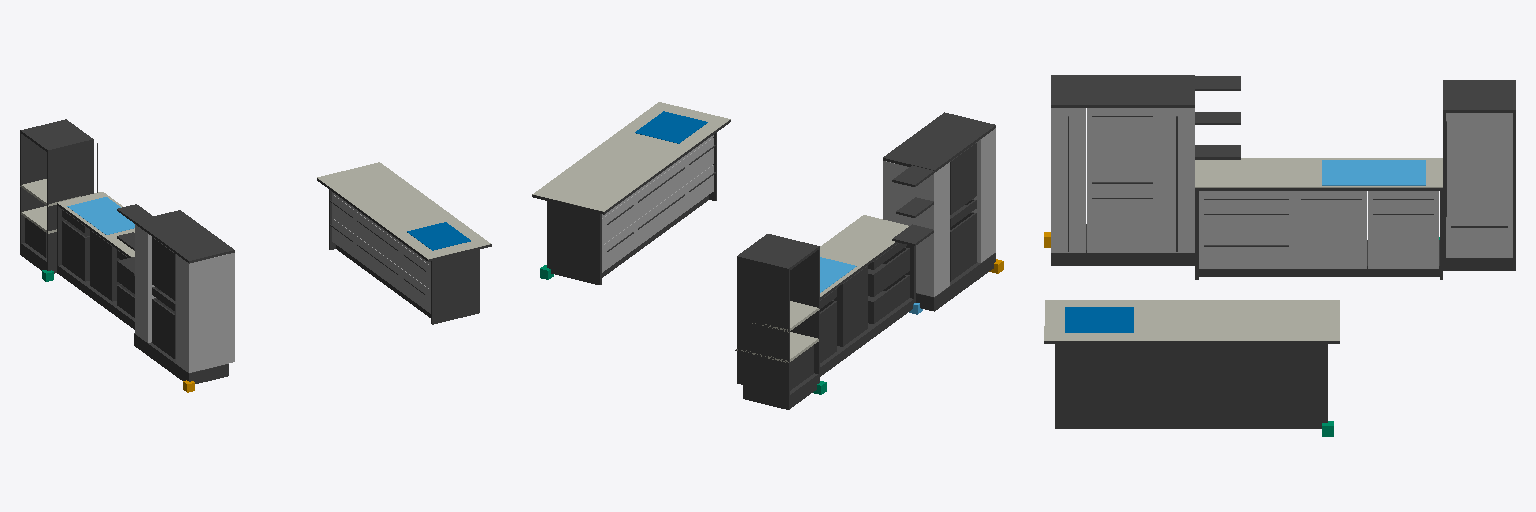
--- Render facts (derived) ---
3 views of the same robot in one strip: view 1: azimuth 30°, elevation 25°; view 2: azimuth 150°, elevation 25°; view 3: azimuth 270°, elevation 25° (orthographic).
Model ias_kitchen with 171 links and 170 joints (1 revolute, 21 prismatic, 148 fixed), rooted at kitchen_link, posed all joints at 0.
Visible links, largest first — view 1: drawer_oven_left_link, white_counter_top_island_link, counter_side_island_right_link, counter_side_fridge_left_link, counter_top_oven_link, drawer_oven_right_link, counter_side_fridge_right_link, counter_top_fridge_link, sink_link, drawer_sink_col2_back_link, skirting_oven_link, drawer_sink_col3_bottom_back_link (+12 smaller); view 2: white_counter_top_island_link, counter_side_fridge_right_link, drawer_oven_right_link, counter_side_island_left_link, counter_top_oven_link, white_counter_top_sink_link, drawer_oven_left_link, counter_side_fridge_left_link, counter_top_fridge_link, drawer_sink_col2_back_link, drawer_oven_oven_back_link, drawer_oven_bottom_back_link (+20 smaller); view 3: counter_side_island_back_link, white_counter_top_island_link, fridge_link, drawer_sink_col2_link, drawer_oven_right_link, drawer_oven_left_link, drawer_oven_oven_link, counter_top_oven_link, white_counter_top_sink_link, drawer_oven_bottom_link, drawer_sink_col3_bottom_link, drawer_sink_col1_center_link (+16 smaller).
Boxes of the visible links, x1=… form: drawer_oven_left_link: x1=176, y1=253, x2=234, y2=372; white_counter_top_island_link: x1=317, y1=162, x2=490, y2=259; counter_side_island_right_link: x1=431, y1=250, x2=479, y2=324; counter_side_fridge_left_link: x1=47, y1=142, x2=93, y2=262; counter_top_oven_link: x1=134, y1=210, x2=234, y2=263; drawer_oven_right_link: x1=135, y1=224, x2=155, y2=342; counter_side_fridge_right_link: x1=20, y1=133, x2=46, y2=243; counter_top_fridge_link: x1=20, y1=119, x2=93, y2=152; sink_link: x1=67, y1=197, x2=134, y2=234; drawer_sink_col2_back_link: x1=90, y1=230, x2=113, y2=301; skirting_oven_link: x1=134, y1=333, x2=228, y2=383; drawer_sink_col3_bottom_back_link: x1=62, y1=221, x2=86, y2=281; white_counter_top_island_link: x1=532, y1=102, x2=730, y2=211; counter_side_fridge_right_link: x1=737, y1=259, x2=789, y2=395; drawer_oven_right_link: x1=883, y1=161, x2=949, y2=296; counter_side_island_left_link: x1=547, y1=201, x2=601, y2=284; counter_top_oven_link: x1=883, y1=112, x2=995, y2=172; white_counter_top_sink_link: x1=820, y1=215, x2=908, y2=296; drawer_oven_left_link: x1=972, y1=128, x2=995, y2=262; counter_side_fridge_left_link: x1=790, y1=249, x2=819, y2=373; counter_top_fridge_link: x1=737, y1=234, x2=819, y2=271; drawer_sink_col2_back_link: x1=842, y1=266, x2=867, y2=346; drawer_oven_oven_back_link: x1=950, y1=143, x2=976, y2=214; drawer_oven_bottom_back_link: x1=950, y1=213, x2=976, y2=281; counter_side_island_back_link: x1=1059, y1=344, x2=1323, y2=428; white_counter_top_island_link: x1=1044, y1=300, x2=1339, y2=340; fridge_link: x1=1446, y1=113, x2=1512, y2=218; drawer_sink_col2_link: x1=1295, y1=191, x2=1366, y2=268; drawer_oven_right_link: x1=1159, y1=108, x2=1194, y2=252; drawer_oven_left_link: x1=1051, y1=108, x2=1085, y2=252; drawer_oven_oven_link: x1=1087, y1=108, x2=1158, y2=175; counter_top_oven_link: x1=1051, y1=75, x2=1194, y2=107; white_counter_top_sink_link: x1=1195, y1=158, x2=1442, y2=187; drawer_oven_bottom_link: x1=1087, y1=190, x2=1158, y2=252; drawer_sink_col3_bottom_link: x1=1368, y1=206, x2=1438, y2=268; drawer_sink_col1_center_link: x1=1199, y1=206, x2=1294, y2=237.
Bounding box of the posed robot: 3.85 × 3.91 × 1.56 m (x, y, z).
Geometry: primitives only (box / cylinder / sphere), no mesh files.

robot.urdf — ias_kitchen:
<?xml version="1.0" ?>
<!-- =================================================================================== -->
<!-- |    This document was autogenerated by xacro from ias_kitchen.urdf.xml           | -->
<!-- |    EDITING THIS FILE BY HAND IS NOT RECOMMENDED                                 | -->
<!-- =================================================================================== -->
<robot name="ias_kitchen" xmlns:controller="http://playerstage.sourceforge.net/gazebo/xmlschema/#controller" xmlns:interface="http://playerstage.sourceforge.net/gazebo/xmlschema/#interface" xmlns:sensor="http://playerstage.sourceforge.net/gazebo/xmlschema/#sensor">
  <material name="KitchenWhite">
    <color rgba="0.75 0.75 0.7 1.0"/>
  </material>
  <material name="KitchenDarkGray">
    <color rgba="0.3 0.3 0.3 1.0"/>
  </material>
  <material name="KitchenLightGray">
    <color rgba="0.7 0.7 0.7 1.0"/>
  </material>
  <material name="KitchenWallWhite">
    <color rgba="1.0 1.0 1.0 1.0"/>
  </material>
  <material name="KitchenSink">
    <texture filename="package://iai_maps/Media/materials/textures/sink.png"/>
  </material>
  <material name="KitchenStove">
    <texture filename="package://iai_maps/Media/materials/textures/stove.png"/>
  </material>
  <!-- This is the top level joint /tf frame. 
       Something (like the provided launch file) should publish a transform to /map. -->
  <link name="kitchen_link">
    <inertial>
      <mass value="1"/>
      <inertia ixx="4e-07" ixy="0" ixz="0" iyy="4e-07" iyz="0" izz="4e-07"/>
    </inertial>
  </link>
  <!-- Quick macro for walls -->
  <!-- Walls behind kitchen counter -->
  <!--
  <wall parent="kitchen"
        name="wall_main"
        pos_x="-0.2" pos_y="-1.5" pos_z="0"
        size_x="0.2" size_y="6.0" size_z="2.75"
        rpy="0 0 0"
  />
  <wall parent="kitchen"
        name="wall_stickout"
        pos_x="0" pos_y="${1.2 + 0.38}" pos_z="0"
        size_x="0.20" size_y="1.67" size_z="2.75"
        rpy="0 0 0"
  />
    -->
  <!-- Shelves on top of kitchen counter -->
  <joint name="kitchen_shelf_bottom_joint" type="fixed">
    <origin rpy="0 0 0" xyz="0.125 1.39 0.8625"/>
    <parent link="kitchen_link"/>
    <child link="shelf_bottom_link"/>
  </joint>
  <link name="shelf_bottom_link">
    <inertial>
      <mass value="2.0"/>
      <inertia ixx="0.0241708333333" ixy="0" ixz="0" iyy="0.0344833333333" iyz="0" izz="0.0105208333333"/>
    </inertial>
    <visual>
      <origin rpy="0 0 0" xyz="0 0 0"/>
      <geometry>
        <box size="0.25 0.38 0.025"/>
      </geometry>
      <material name="KitchenDarkGray"/>
    </visual>
    <collision>
      <origin rpy="0 0 0" xyz="0 0 0"/>
      <geometry>
        <box size="0.25 0.38 0.025"/>
      </geometry>
    </collision>
  </link>
  <gazebo reference="shelf_bottom_link">
    <kp>100000</kp>
    <kd>1000000</kd>
    <mu1>50000</mu1>
    <mu2>50000</mu2>
    <material value="Ias/KitchenDarkGray"/>
  </gazebo>
  <joint name="kitchen_shelf_center_joint" type="fixed">
    <origin rpy="0 0 0" xyz="0.105 1.39 1.1625"/>
    <parent link="kitchen_link"/>
    <child link="shelf_center_link"/>
  </joint>
  <link name="shelf_center_link">
    <inertial>
      <mass value="2.0"/>
      <inertia ixx="0.0241708333333" ixy="0" ixz="0" iyy="0.0314166666667" iyz="0" izz="0.00745416666667"/>
    </inertial>
    <visual>
      <origin rpy="0 0 0" xyz="0 0 0"/>
      <geometry>
        <box size="0.21 0.38 0.025"/>
      </geometry>
      <material name="KitchenDarkGray"/>
    </visual>
    <collision>
      <origin rpy="0 0 0" xyz="0 0 0"/>
      <geometry>
        <box size="0.21 0.38 0.025"/>
      </geometry>
    </collision>
  </link>
  <gazebo reference="shelf_center_link">
    <kp>100000</kp>
    <kd>1000000</kd>
    <mu1>50000</mu1>
    <mu2>50000</mu2>
    <material value="Ias/KitchenDarkGray"/>
  </gazebo>
  <joint name="kitchen_shelf_top_joint" type="fixed">
    <origin rpy="0 0 0" xyz="0.125 1.39 1.4925"/>
    <parent link="kitchen_link"/>
    <child link="shelf_top_link"/>
  </joint>
  <link name="shelf_top_link">
    <inertial>
      <mass value="2.0"/>
      <inertia ixx="0.0241708333333" ixy="0" ixz="0" iyy="0.0344833333333" iyz="0" izz="0.0105208333333"/>
    </inertial>
    <visual>
      <origin rpy="0 0 0" xyz="0 0 0"/>
      <geometry>
        <box size="0.25 0.38 0.025"/>
      </geometry>
      <material name="KitchenDarkGray"/>
    </visual>
    <collision>
      <origin rpy="0 0 0" xyz="0 0 0"/>
      <geometry>
        <box size="0.25 0.38 0.025"/>
      </geometry>
    </collision>
  </link>
  <gazebo reference="shelf_top_link">
    <kp>100000</kp>
    <kd>1000000</kd>
    <mu1>50000</mu1>
    <mu2>50000</mu2>
    <material value="Ias/KitchenDarkGray"/>
  </gazebo>
  <!-- Finally, the 5 main blocks of the kitchen -->
  <joint name="island_block_stove_joint" type="fixed">
    <origin rpy="0 0 0" xyz="0 0 0"/>
    <parent link="island_block_link"/>
    <child link="stove_link"/>
  </joint>
  <link name="stove_link">
    <inertial>
      <mass value="1.0"/>
      <inertia ixx="0.0270770833333" ixy="0" ixz="0" iyy="0.0479083333333" iyz="0" izz="0.0208354166667"/>
    </inertial>
    <visual>
      <origin rpy="0 0 0" xyz=".30 1.895 .8525"/>
      <geometry>
        <box size=".50 .57 0.005"/>
      </geometry>
      <material name="KitchenStove"/>
    </visual>
    <collision>
      <origin rpy="0 0 0" xyz=".30 1.895 .8525"/>
      <geometry>
        <box size=".50 .57 0.005"/>
      </geometry>
    </collision>
  </link>
  <gazebo reference="stove_link">
    <material value="Ias/KitchenStove"/>
  </gazebo>
  <joint name="island_block_counter_side_island_left_joint" type="fixed">
    <origin rpy="0 0 0" xyz="0.3 0.015 0.41"/>
    <parent link="island_block_link"/>
    <child link="counter_side_island_left_link"/>
  </joint>
  <link name="counter_side_island_left_link">
    <inertial>
      <mass value="2.0"/>
      <inertia ixx="0.112216666667" ixy="0" ixz="0" iyy="0.06015" iyz="0" izz="0.172066666667"/>
    </inertial>
    <visual>
      <origin rpy="0 0 0" xyz="0 0 0"/>
      <geometry>
        <box size="0.6 0.03 0.82"/>
      </geometry>
      <material name="KitchenDarkGray"/>
    </visual>
    <collision>
      <origin rpy="0 0 0" xyz="0 0 0"/>
      <geometry>
        <box size="0.6 0.03 0.82"/>
      </geometry>
    </collision>
  </link>
  <gazebo reference="counter_side_island_left_link">
    <material value="Ias/KitchenDarkGray"/>
  </gazebo>
  <joint name="island_block_counter_side_island_right_joint" type="fixed">
    <origin rpy="0 0 0" xyz="0.3 2.245 0.41"/>
    <parent link="island_block_link"/>
    <child link="counter_side_island_right_link"/>
  </joint>
  <link name="counter_side_island_right_link">
    <inertial>
      <mass value="2.0"/>
      <inertia ixx="0.112216666667" ixy="0" ixz="0" iyy="0.06015" iyz="0" izz="0.172066666667"/>
    </inertial>
    <visual>
      <origin rpy="0 0 0" xyz="0 0 0"/>
      <geometry>
        <box size="0.6 0.03 0.82"/>
      </geometry>
      <material name="KitchenDarkGray"/>
    </visual>
    <collision>
      <origin rpy="0 0 0" xyz="0 0 0"/>
      <geometry>
        <box size="0.6 0.03 0.82"/>
      </geometry>
    </collision>
  </link>
  <gazebo reference="counter_side_island_right_link">
    <material value="Ias/KitchenDarkGray"/>
  </gazebo>
  <joint name="island_block_counter_side_island_back_joint" type="fixed">
    <origin rpy="0 0 0" xyz="0.01 1.13 0.41"/>
    <parent link="island_block_link"/>
    <child link="counter_side_island_back_link"/>
  </joint>
  <link name="counter_side_island_back_link">
    <inertial>
      <mass value="2.0"/>
      <inertia ixx="0.918733333333" ixy="0" ixz="0" iyy="0.806733333333" iyz="0" izz="0.112133333333"/>
    </inertial>
    <visual>
      <origin rpy="0 0 0" xyz="0 0 0"/>
      <geometry>
        <box size="0.02 2.2 0.82"/>
      </geometry>
      <material name="KitchenDarkGray"/>
    </visual>
    <collision>
      <origin rpy="0 0 0" xyz="0 0 0"/>
      <geometry>
        <box size="0.02 2.2 0.82"/>
      </geometry>
    </collision>
  </link>
  <gazebo reference="counter_side_island_back_link">
    <material value="Ias/KitchenDarkGray"/>
  </gazebo>
  <joint name="island_block_counter_top_island_joint" type="fixed">
    <origin rpy="0 0 0" xyz="0.3 1.125 0.835"/>
    <parent link="island_block_link"/>
    <child link="counter_top_island_link"/>
  </joint>
  <link name="counter_top_island_link">
    <inertial>
      <mass value="2.0"/>
      <inertia ixx="1.00056666667" ixy="0" ixz="0" iyy="1.10708333333" iyz="0" izz="0.106816666667"/>
    </inertial>
    <visual>
      <origin rpy="0 0 0" xyz="0 0 0"/>
      <geometry>
        <box size="0.8 2.45 0.03"/>
      </geometry>
      <material name="KitchenDarkGray"/>
    </visual>
    <collision>
      <origin rpy="0 0 0" xyz="0 0 0"/>
      <geometry>
        <box size="0.8 2.45 0.03"/>
      </geometry>
    </collision>
  </link>
  <gazebo reference="counter_top_island_link">
    <kp>100000</kp>
    <kd>1000000</kd>
    <mu1>50000</mu1>
    <mu2>50000</mu2>
    <material value="Ias/KitchenDarkGray"/>
  </gazebo>
  <joint name="island_block_white_counter_top_island_joint" type="fixed">
    <origin rpy="0 0 0" xyz="0.3 1.125 0.851"/>
    <parent link="island_block_link"/>
    <child link="white_counter_top_island_link"/>
  </joint>
  <link name="white_counter_top_island_link">
    <inertial>
      <mass value="2.0"/>
      <inertia ixx="1.00041733333" ixy="0" ixz="0" iyy="1.10708333333" iyz="0" izz="0.106667333333"/>
    </inertial>
    <visual>
      <origin rpy="0 0 0" xyz="0 0 0"/>
      <geometry>
        <box size="0.8 2.45 0.002"/>
      </geometry>
      <material name="KitchenWhite"/>
    </visual>
    <collision>
      <origin rpy="0 0 0" xyz="0 0 0"/>
      <geometry>
        <box size="0.8 2.45 0.002"/>
      </geometry>
    </collision>
  </link>
  <gazebo reference="white_counter_top_island_link">
    <kp>100000</kp>
    <kd>1000000</kd>
    <mu1>50000</mu1>
    <mu2>50000</mu2>
    <material value="Ias/KitchenWhite"/>
  </gazebo>
  <joint name="island_block_drawer_island_col1_bottom_fixed_joint" type="fixed">
    <origin rpy="0 0 0" xyz="0.57 0.33 0.245"/>
    <parent link="island_block_link"/>
    <child link="drawer_island_col1_bottom_fixed_link"/>
  </joint>
  <link name="drawer_island_col1_bottom_fixed_link">
    <inertial>
      <mass value="1"/>
      <inertia ixx="4e-07" ixy="0" ixz="0" iyy="4e-07" iyz="0" izz="4e-07"/>
    </inertial>
  </link>
  <joint name="island_block_drawer_island_col1_bottom_joint" type="prismatic">
    <origin rpy="0 0 0" xyz="0 0 0"/>
    <parent link="drawer_island_col1_bottom_fixed_link"/>
    <child link="drawer_island_col1_bottom_link"/>
    <axis xyz="0.999 0 0.044"/>
    <!-- the axis needs to be slightly tilted so that the drawers would stay closed in Gazebo-->
    <limit effort="300" lower="0" upper="0.48" velocity="10"/>
  </joint>
  <gazebo reference="island_block_drawer_island_col1_bottom_joint">
    <erp>0.8</erp>
    <cfm>0.0000001</cfm>
    <stopKp>1000000.0</stopKp>
    <stopKd>1.0</stopKd>
  </gazebo>
  <link name="drawer_island_col1_bottom_link">
    <inertial>
      <mass value="1.0"/>
      <inertia ixx="0.0370083333333" ixy="0" ixz="0" iyy="0.0300333333333" iyz="0" izz="0.00704166666667"/>
    </inertial>
    <visual>
      <origin rpy="0 0 0" xyz="0 0 0"/>
      <geometry>
        <box size="0.02 0.595 0.285"/>
      </geometry>
      <material name="KitchenLightGray"/>
    </visual>
    <collision>
      <origin rpy="0 0 0" xyz="0 0 0"/>
      <geometry>
        <box size="0.02 0.6 0.29"/>
      </geometry>
    </collision>
  </link>
  <gazebo reference="drawer_island_col1_bottom_link">
    <material value="Ias/KitchenLightGray"/>
  </gazebo>
  <joint name="drawer_island_col1_bottom_left_fixed_joint" type="fixed">
    <origin rpy="0 0 0" xyz="0 0 0"/>
    <parent link="drawer_island_col1_bottom_link"/>
    <child link="drawer_island_col1_bottom_left_link"/>
  </joint>
  <link name="drawer_island_col1_bottom_left_link">
    <inertial>
      <mass value="1.0"/>
      <inertia ixx="0.00483333333333" ixy="0" ixz="0" iyy="0.0243333333333" iyz="0" izz="0.0291"/>
    </inertial>
    <visual>
      <origin rpy="0 0 0" xyz="-0.27 -0.24 0"/>
      <geometry>
        <box size="0.54 0.02 0.24"/>
      </geometry>
      <material name="KitchenDarkGray"/>
    </visual>
    <collision>
      <origin rpy="0 0 0" xyz="-0.27 -0.24 0"/>
      <geometry>
        <box size="0.54 0.02 0.24"/>
      </geometry>
    </collision>
  </link>
  <gazebo reference="drawer_island_col1_bottom_left_link">
    <material value="Ias/KitchenLightGray"/>
  </gazebo>
  <joint name="drawer_island_col1_bottom_right_fixed_joint" type="fixed">
    <origin rpy="0 0 0" xyz="0 0 0"/>
    <parent link="drawer_island_col1_bottom_link"/>
    <child link="drawer_island_col1_bottom_right_link"/>
  </joint>
  <link name="drawer_island_col1_bottom_right_link">
    <inertial>
      <mass value="1.0"/>
      <inertia ixx="0.00483333333333" ixy="0" ixz="0" iyy="0.0243333333333" iyz="0" izz="0.0291"/>
    </inertial>
    <visual>
      <origin rpy="0 0 0" xyz="-0.27 0.24 0"/>
      <geometry>
        <box size="0.54 0.02 0.24"/>
      </geometry>
      <material name="KitchenDarkGray"/>
    </visual>
    <collision>
      <origin rpy="0 0 0" xyz="-0.27 0.24 0"/>
      <geometry>
        <box size="0.54 0.02 0.24"/>
      </geometry>
    </collision>
  </link>
  <gazebo reference="drawer_island_col1_bottom_right_link">
    <material value="Ias/KitchenLightGray"/>
  </gazebo>
  <joint name="drawer_island_col1_bottom_back_fixed_joint" type="fixed">
    <origin rpy="0 0 0" xyz="0 0 0"/>
    <parent link="drawer_island_col1_bottom_link"/>
    <child link="drawer_island_col1_bottom_back_link"/>
  </joint>
  <link name="drawer_island_col1_bottom_back_link">
    <inertial>
      <mass value="1.0"/>
      <inertia ixx="0.0256333333333" ixy="0" ixz="0" iyy="0.0208666666667" iyz="0" izz="0.00483333333333"/>
    </inertial>
    <visual>
      <origin rpy="0 0 0" xyz="-0.54 0 0"/>
      <geometry>
        <box size="0.02 0.5 0.24"/>
      </geometry>
      <material name="KitchenDarkGray"/>
    </visual>
    <collision>
      <origin rpy="0 0 0" xyz="-0.54 0 0"/>
      <geometry>
        <box size="0.02 0.5 0.24"/>
      </geometry>
    </collision>
  </link>
  <gazebo reference="drawer_island_col1_bottom_back_link">
    <material value="Ias/KitchenLightGray"/>
  </gazebo>
  <joint name="drawer_island_col1_bottom_bottom_fixed_joint" type="fixed">
    <origin rpy="0 0 0" xyz="0 0 0"/>
    <parent link="drawer_island_col1_bottom_link"/>
    <child link="drawer_island_col1_bottom_bottom_link"/>
  </joint>
  <link name="drawer_island_col1_bottom_bottom_link">
    <inertial>
      <mass value="1.0"/>
      <inertia ixx="0.0208666666667" ixy="0" ixz="0" iyy="0.0451333333333" iyz="0" izz="0.0243333333333"/>
    </inertial>
    <visual>
      <origin rpy="0 0 0" xyz="-0.27 0 -0.11"/>
      <geometry>
        <box size="0.54 0.5 0.02"/>
      </geometry>
      <material name="KitchenDarkGray"/>
    </visual>
    <collision>
      <origin rpy="0 0 0" xyz="-0.27 0 -0.11"/>
      <geometry>
        <box size="0.54 0.5 0.02"/>
      </geometry>
    </collision>
  </link>
  <gazebo reference="drawer_island_col1_bottom_bottom_link">
    <material value="Ias/KitchenLightGray"/>
  </gazebo>
  <joint name="drawer_island_col1_bottom_handle_drawer_island_col1_bottom_joint" type="fixed">
    <origin rpy="0 0 0" xyz="0.0625 0.0 0.0925"/>
    <parent link="drawer_island_col1_bottom_link"/>
    <child link="handle_drawer_island_col1_bottom_link"/>
  </joint>
  <link name="handle_drawer_island_col1_bottom_link">
    <inertial>
      <mass value="0.1"/>
      <inertia ixx="0.00212604166667" ixy="0" ixz="0" iyy="0.00212604166667" iyz="0" izz="1.66666666667e-06"/>
    </inertial>
    <visual>
      <origin rpy="0 0 0" xyz="0 0 0"/>
      <geometry>
        <box size="0.01 0.505 0.01"/>
      </geometry>
      <material name="KitchenDarkGray"/>
    </visual>
    <collision>
      <origin rpy="0 0 0" xyz="0 0 0"/>
      <geometry>
        <box size="0.015 0.51 0.015"/>
      </geometry>
    </collision>
  </link>
  <gazebo reference="handle_drawer_island_col1_bottom_link">
    <material value="Ias/KitchenDarkGray"/>
  </gazebo>
  <joint name="island_block_drawer_island_col1_center_fixed_joint" type="fixed">
    <origin rpy="0 0 0" xyz="0.57 0.33 0.535"/>
    <parent link="island_block_link"/>
    <child link="drawer_island_col1_center_fixed_link"/>
  </joint>
  <link name="drawer_island_col1_center_fixed_link">
    <inertial>
      <mass value="1"/>
      <inertia ixx="4e-07" ixy="0" ixz="0" iyy="4e-07" iyz="0" izz="4e-07"/>
    </inertial>
  </link>
  <joint name="island_block_drawer_island_col1_center_joint" type="prismatic">
    <origin rpy="0 0 0" xyz="0 0 0"/>
    <parent link="drawer_island_col1_center_fixed_link"/>
    <child link="drawer_island_col1_center_link"/>
    <axis xyz="0.999 0 0.044"/>
    <!-- the axis needs to be slightly tilted so that the drawers would stay closed in Gazebo-->
    <limit effort="300" lower="0" upper="0.48" velocity="10"/>
  </joint>
  <gazebo reference="island_block_drawer_island_col1_center_joint">
    <erp>0.8</erp>
    <cfm>0.0000001</cfm>
    <stopKp>1000000.0</stopKp>
    <stopKd>1.0</stopKd>
  </gazebo>
  <link name="drawer_island_col1_center_link">
    <inertial>
      <mass value="1.0"/>
      <inertia ixx="0.0370083333333" ixy="0" ixz="0" iyy="0.0300333333333" iyz="0" izz="0.00704166666667"/>
    </inertial>
    <visual>
      <origin rpy="0 0 0" xyz="0 0 0"/>
      <geometry>
        <box size="0.02 0.595 0.285"/>
      </geometry>
      <material name="KitchenLightGray"/>
    </visual>
    <collision>
      <origin rpy="0 0 0" xyz="0 0 0"/>
      <geometry>
        <box size="0.02 0.6 0.29"/>
      </geometry>
    </collision>
  </link>
  <gazebo reference="drawer_island_col1_center_link">
    <material value="Ias/KitchenLightGray"/>
  </gazebo>
  <joint name="drawer_island_col1_center_left_fixed_joint" type="fixed">
    <origin rpy="0 0 0" xyz="0 0 0"/>
    <parent link="drawer_island_col1_center_link"/>
    <child link="drawer_island_col1_center_left_link"/>
  </joint>
  <link name="drawer_island_col1_center_left_link">
    <inertial>
      <mass value="1.0"/>
      <inertia ixx="0.00483333333333" ixy="0" ixz="0" iyy="0.0243333333333" iyz="0" izz="0.0291"/>
    </inertial>
    <visual>
      <origin rpy="0 0 0" xyz="-0.27 -0.24 0"/>
      <geometry>
        <box size="0.54 0.02 0.24"/>
      </geometry>
      <material name="KitchenDarkGray"/>
    </visual>
    <collision>
      <origin rpy="0 0 0" xyz="-0.27 -0.24 0"/>
      <geometry>
        <box size="0.54 0.02 0.24"/>
      </geometry>
    </collision>
  </link>
  <gazebo reference="drawer_island_col1_center_left_link">
    <material value="Ias/KitchenLightGray"/>
  </gazebo>
  <joint name="drawer_island_col1_center_right_fixed_joint" type="fixed">
    <origin rpy="0 0 0" xyz="0 0 0"/>
    <parent link="drawer_island_col1_center_link"/>
    <child link="drawer_island_col1_center_right_link"/>
  </joint>
  <link name="drawer_island_col1_center_right_link">
    <inertial>
      <mass value="1.0"/>
      <inertia ixx="0.00483333333333" ixy="0" ixz="0" iyy="0.0243333333333" iyz="0" izz="0.0291"/>
    </inertial>
    <visual>
      <origin rpy="0 0 0" xyz="-0.27 0.24 0"/>
      <geometry>
        <box size="0.54 0.02 0.24"/>
      </geometry>
      <material name="KitchenDarkGray"/>
    </visual>
    <collision>
      <origin rpy="0 0 0" xyz="-0.27 0.24 0"/>
      <geometry>
        <box size="0.54 0.02 0.24"/>
      </geometry>
    </collision>
  </link>
  <gazebo reference="drawer_island_col1_center_right_link">
    <material value="Ias/KitchenLightGray"/>
  </gazebo>
  <joint name="drawer_island_col1_center_back_fixed_joint" type="fixed">
    <origin rpy="0 0 0" xyz="0 0 0"/>
    <parent link="drawer_island_col1_center_link"/>
    <child link="drawer_island_col1_center_back_link"/>
  </joint>
  <link name="drawer_island_col1_center_back_link">
    <inertial>
      <mass value="1.0"/>
      <inertia ixx="0.0256333333333" ixy="0" ixz="0" iyy="0.0208666666667" iyz="0" izz="0.00483333333333"/>
    </inertial>
    <visual>
      <origin rpy="0 0 0" xyz="-0.54 0 0"/>
      <geometry>
        <box size="0.02 0.5 0.24"/>
      </geometry>
      <material name="KitchenDarkGray"/>
    </visual>
    <collision>
      <origin rpy="0 0 0" xyz="-0.54 0 0"/>
      <geometry>
        <box size="0.02 0.5 0.24"/>
      </geometry>
    </collision>
  </link>
  <gazebo reference="drawer_island_col1_center_back_link">
    <material value="Ias/KitchenLightGray"/>
  </gazebo>
  <joint name="drawer_island_col1_center_bottom_fixed_joint" type="fixed">
    <origin rpy="0 0 0" xyz="0 0 0"/>
    <parent link="drawer_island_col1_center_link"/>
    <child link="drawer_island_col1_center_bottom_link"/>
  </joint>
  <link name="drawer_island_col1_center_bottom_link">
    <inertial>
      <mass value="1.0"/>
      <inertia ixx="0.0208666666667" ixy="0" ixz="0" iyy="0.0451333333333" iyz="0" izz="0.0243333333333"/>
    </inertial>
    <visual>
      <origin rpy="0 0 0" xyz="-0.27 0 -0.11"/>
      <geometry>
        <box size="0.54 0.5 0.02"/>
      </geometry>
      <material name="KitchenDarkGray"/>
    </visual>
    <collision>
      <origin rpy="0 0 0" xyz="-0.27 0 -0.11"/>
      <geometry>
        <box size="0.54 0.5 0.02"/>
      </geometry>
    </collision>
  </link>
  <gazebo reference="drawer_island_col1_center_bottom_link">
    <material value="Ias/KitchenLightGray"/>
  </gazebo>
  <joint name="drawer_island_col1_center_handle_drawer_island_col1_center_joint" type="fixed">
    <origin rpy="0 0 0" xyz="0.0625 0.0 0.0925"/>
    <parent link="drawer_island_col1_center_link"/>
    <child link="handle_drawer_island_col1_center_link"/>
  </joint>
  <link name="handle_drawer_island_col1_center_link">
    <inertial>
      <mass value="0.1"/>
      <inertia ixx="0.00212604166667" ixy="0" ixz="0" iyy="0.00212604166667" iyz="0" izz="1.66666666667e-06"/>
    </inertial>
    <visual>
      <origin rpy="0 0 0" xyz="0 0 0"/>
      <geometry>
        <box size="0.01 0.505 0.01"/>
      </geometry>
      <material name="KitchenDarkGray"/>
    </visual>
    <collision>
      <origin rpy="0 0 0" xyz="0 0 0"/>
      <geometry>
        <box size="0.015 0.51 0.015"/>
      </geometry>
    </collision>
  </link>
  <gazebo reference="handle_drawer_island_col1_center_link">
    <material value="Ias/KitchenDarkGray"/>
  </gazebo>
  <joint name="island_block_drawer_island_col1_top_fixed_joint" type="fixed">
    <origin rpy="0 0 0" xyz="0.57 0.33 0.75"/>
    <parent link="island_block_link"/>
    <child link="drawer_island_col1_top_fixed_link"/>
  </joint>
  <link name="drawer_island_col1_top_fixed_link">
    <inertial>
      <mass value="1"/>
      <inertia ixx="4e-07" ixy="0" ixz="0" iyy="4e-07" iyz="0" izz="4e-07"/>
    </inertial>
  </link>
  <joint name="island_block_drawer_island_col1_top_joint" type="prismatic">
    <origin rpy="0 0 0" xyz="0 0 0"/>
    <parent link="drawer_island_col1_top_fixed_link"/>
    <child link="drawer_island_col1_top_link"/>
    <axis xyz="0.999 0 0.044"/>
    <!-- the axis needs to be slightly tilted so that the drawers would stay closed in Gazebo-->
    <limit effort="300" lower="0" upper="0.48" velocity="10"/>
  </joint>
  <gazebo reference="island_block_drawer_island_col1_top_joint">
    <erp>0.8</erp>
    <cfm>0.0000001</cfm>
    <stopKp>1000000.0</stopKp>
    <stopKd>1.0</stopKd>
  </gazebo>
  <link name="drawer_island_col1_top_link">
    <inertial>
      <mass value="1.0"/>
      <inertia ixx="0.0316333333333" ixy="0" ixz="0" iyy="0.0300333333333" iyz="0" izz="0.00166666666667"/>
    </inertial>
    <visual>
      <origin rpy="0 0 0" xyz="0 0 0"/>
      <geometry>
        <box size="0.02 0.595 0.135"/>
      </geometry>
      <material name="KitchenLightGray"/>
    </visual>
    <collision>
      <origin rpy="0 0 0" xyz="0 0 0"/>
      <geometry>
        <box size="0.02 0.6 0.14"/>
      </geometry>
    </collision>
  </link>
  <gazebo reference="drawer_island_col1_top_link">
    <material value="Ias/KitchenLightGray"/>
  </gazebo>
  <joint name="drawer_island_col1_top_left_fixed_joint" type="fixed">
    <origin rpy="0 0 0" xyz="0 0 0"/>
    <parent link="drawer_island_col1_top_link"/>
    <child link="drawer_island_col1_top_left_link"/>
  </joint>
  <link name="drawer_island_col1_top_left_link">
    <inertial>
      <mass value="1.0"/>
      <inertia ixx="0.000708333333333" ixy="0" ixz="0" iyy="0.0243333333333" iyz="0" izz="0.024975"/>
    </inertial>
    <visual>
      <origin rpy="0 0 0" xyz="-0.27 -0.24 0"/>
      <geometry>
        <box size="0.54 0.02 0.09"/>
      </geometry>
      <material name="KitchenDarkGray"/>
    </visual>
    <collision>
      <origin rpy="0 0 0" xyz="-0.27 -0.24 0"/>
      <geometry>
        <box size="0.54 0.02 0.09"/>
      </geometry>
    </collision>
  </link>
  <gazebo reference="drawer_island_col1_top_left_link">
    <material value="Ias/KitchenLightGray"/>
  </gazebo>
  <joint name="drawer_island_col1_top_right_fixed_joint" type="fixed">
    <origin rpy="0 0 0" xyz="0 0 0"/>
    <parent link="drawer_island_col1_top_link"/>
    <child link="drawer_island_col1_top_right_link"/>
  </joint>
  <link name="drawer_island_col1_top_right_link">
    <inertial>
      <mass value="1.0"/>
      <inertia ixx="0.000708333333333" ixy="0" ixz="0" iyy="0.0243333333333" iyz="0" izz="0.024975"/>
    </inertial>
    <visual>
      <origin rpy="0 0 0" xyz="-0.27 0.24 0"/>
      <geometry>
        <box size="0.54 0.02 0.09"/>
      </geometry>
      <material name="KitchenDarkGray"/>
    </visual>
    <collision>
      <origin rpy="0 0 0" xyz="-0.27 0.24 0"/>
      <geometry>
        <box size="0.54 0.02 0.09"/>
      </geometry>
    </collision>
  </link>
  <gazebo reference="drawer_island_col1_top_right_link">
    <material value="Ias/KitchenLightGray"/>
  </gazebo>
  <joint name="drawer_island_col1_top_back_fixed_joint" type="fixed">
    <origin rpy="0 0 0" xyz="0 0 0"/>
    <parent link="drawer_island_col1_top_link"/>
    <child link="drawer_island_col1_top_back_link"/>
  </joint>
  <link name="drawer_island_col1_top_back_link">
    <inertial>
      <mass value="1.0"/>
      <inertia ixx="0.0215083333333" ixy="0" ixz="0" iyy="0.0208666666667" iyz="0" izz="0.000708333333333"/>
    </inertial>
    <visual>
      <origin rpy="0 0 0" xyz="-0.54 0 0"/>
      <geometry>
        <box size="0.02 0.5 0.09"/>
      </geometry>
      <material name="KitchenDarkGray"/>
    </visual>
    <collision>
      <origin rpy="0 0 0" xyz="-0.54 0 0"/>
      <geometry>
        <box size="0.02 0.5 0.09"/>
      </geometry>
    </collision>
  </link>
  <gazebo reference="drawer_island_col1_top_back_link">
    <material value="Ias/KitchenLightGray"/>
  </gazebo>
  <joint name="drawer_island_col1_top_bottom_fixed_joint" type="fixed">
    <origin rpy="0 0 0" xyz="0 0 0"/>
    <parent link="drawer_island_col1_top_link"/>
    <child link="drawer_island_col1_top_bottom_link"/>
  </joint>
  <link name="drawer_island_col1_top_bottom_link">
    <inertial>
      <mass value="1.0"/>
      <inertia ixx="0.0208666666667" ixy="0" ixz="0" iyy="0.0451333333333" iyz="0" izz="0.0243333333333"/>
    </inertial>
    <visual>
      <origin rpy="0 0 0" xyz="-0.27 0 -0.035"/>
      <geometry>
        <box size="0.54 0.5 0.02"/>
      </geometry>
      <material name="KitchenDarkGray"/>
    </visual>
    <collision>
      <origin rpy="0 0 0" xyz="-0.27 0 -0.035"/>
      <geometry>
        <box size="0.54 0.5 0.02"/>
      </geometry>
    </collision>
  </link>
  <gazebo reference="drawer_island_col1_top_bottom_link">
    <material value="Ias/KitchenLightGray"/>
  </gazebo>
  <joint name="drawer_island_col1_top_handle_drawer_island_col1_top_joint" type="fixed">
    <origin rpy="0 0 0" xyz="0.0625 0.0 0.0175"/>
    <parent link="drawer_island_col1_top_link"/>
    <child link="handle_drawer_island_col1_top_link"/>
  </joint>
  <link name="handle_drawer_island_col1_top_link">
    <inertial>
      <mass value="0.1"/>
      <inertia ixx="0.00212604166667" ixy="0" ixz="0" iyy="0.00212604166667" iyz="0" izz="1.66666666667e-06"/>
    </inertial>
    <visual>
      <origin rpy="0 0 0" xyz="0 0 0"/>
      <geometry>
        <box size="0.01 0.505 0.01"/>
      </geometry>
      <material name="KitchenDarkGray"/>
    </visual>
    <collision>
      <origin rpy="0 0 0" xyz="0 0 0"/>
      <geometry>
        <box size="0.015 0.51 0.015"/>
      </geometry>
    </collision>
  </link>
  <gazebo reference="handle_drawer_island_col1_top_link">
    <material value="Ias/KitchenDarkGray"/>
  </gazebo>
  <joint name="island_block_drawer_island_col2_bottom_fixed_joint" type="fixed">
    <origin rpy="0 0 0" xyz="0.57 1.13 0.245"/>
    <parent link="island_block_link"/>
    <child link="drawer_island_col2_bottom_fixed_link"/>
  </joint>
  <link name="drawer_island_col2_bottom_fixed_link">
    <inertial>
      <mass value="1"/>
      <inertia ixx="4e-07" ixy="0" ixz="0" iyy="4e-07" iyz="0" izz="4e-07"/>
    </inertial>
  </link>
  <joint name="island_block_drawer_island_col2_bottom_joint" type="prismatic">
    <origin rpy="0 0 0" xyz="0 0 0"/>
    <parent link="drawer_island_col2_bottom_fixed_link"/>
    <child link="drawer_island_col2_bottom_link"/>
    <axis xyz="0.999 0 0.044"/>
    <!-- the axis needs to be slightly tilted so that the drawers would stay closed in Gazebo-->
    <limit effort="300" lower="0" upper="0.48" velocity="10"/>
  </joint>
  <gazebo reference="island_block_drawer_island_col2_bottom_joint">
    <erp>0.8</erp>
    <cfm>0.0000001</cfm>
    <stopKp>1000000.0</stopKp>
    <stopKd>1.0</stopKd>
  </gazebo>
  <link name="drawer_island_col2_bottom_link">
    <inertial>
      <mass value="1.0"/>
      <inertia ixx="0.0903416666667" ixy="0" ixz="0" iyy="0.0833666666667" iyz="0" izz="0.00704166666667"/>
    </inertial>
    <visual>
      <origin rpy="0 0 0" xyz="0 0 0"/>
      <geometry>
        <box size="0.02 0.995 0.285"/>
      </geometry>
      <material name="KitchenLightGray"/>
    </visual>
    <collision>
      <origin rpy="0 0 0" xyz="0 0 0"/>
      <geometry>
        <box size="0.02 1.0 0.29"/>
      </geometry>
    </collision>
  </link>
  <gazebo reference="drawer_island_col2_bottom_link">
    <material value="Ias/KitchenLightGray"/>
  </gazebo>
  <joint name="drawer_island_col2_bottom_left_fixed_joint" type="fixed">
    <origin rpy="0 0 0" xyz="0 0 0"/>
    <parent link="drawer_island_col2_bottom_link"/>
    <child link="drawer_island_col2_bottom_left_link"/>
  </joint>
  <link name="drawer_island_col2_bottom_left_link">
    <inertial>
      <mass value="1.0"/>
      <inertia ixx="0.00483333333333" ixy="0" ixz="0" iyy="0.0243333333333" iyz="0" izz="0.0291"/>
    </inertial>
    <visual>
      <origin rpy="0 0 0" xyz="-0.27 -0.44 0"/>
      <geometry>
        <box size="0.54 0.02 0.24"/>
      </geometry>
      <material name="KitchenDarkGray"/>
    </visual>
    <collision>
      <origin rpy="0 0 0" xyz="-0.27 -0.44 0"/>
      <geometry>
        <box size="0.54 0.02 0.24"/>
      </geometry>
    </collision>
  </link>
  <gazebo reference="drawer_island_col2_bottom_left_link">
    <material value="Ias/KitchenLightGray"/>
  </gazebo>
  <joint name="drawer_island_col2_bottom_right_fixed_joint" type="fixed">
    <origin rpy="0 0 0" xyz="0 0 0"/>
    <parent link="drawer_island_col2_bottom_link"/>
    <child link="drawer_island_col2_bottom_right_link"/>
  </joint>
  <link name="drawer_island_col2_bottom_right_link">
    <inertial>
      <mass value="1.0"/>
      <inertia ixx="0.00483333333333" ixy="0" ixz="0" iyy="0.0243333333333" iyz="0" izz="0.0291"/>
    </inertial>
    <visual>
      <origin rpy="0 0 0" xyz="-0.27 0.44 0"/>
      <geometry>
        <box size="0.54 0.02 0.24"/>
      </geometry>
      <material name="KitchenDarkGray"/>
    </visual>
    <collision>
      <origin rpy="0 0 0" xyz="-0.27 0.44 0"/>
      <geometry>
        <box size="0.54 0.02 0.24"/>
      </geometry>
    </collision>
  </link>
  <gazebo reference="drawer_island_col2_bottom_right_link">
    <material value="Ias/KitchenLightGray"/>
  </gazebo>
  <joint name="drawer_island_col2_bottom_back_fixed_joint" type="fixed">
    <origin rpy="0 0 0" xyz="0 0 0"/>
    <parent link="drawer_island_col2_bottom_link"/>
    <child link="drawer_island_col2_bottom_back_link"/>
  </joint>
  <link name="drawer_island_col2_bottom_back_link">
    <inertial>
      <mass value="1.0"/>
      <inertia ixx="0.0723" ixy="0" ixz="0" iyy="0.0675333333333" iyz="0" izz="0.00483333333333"/>
    </inertial>
    <visual>
      <origin rpy="0 0 0" xyz="-0.54 0 0"/>
      <geometry>
        <box size="0.02 0.9 0.24"/>
      </geometry>
      <material name="KitchenDarkGray"/>
    </visual>
    <collision>
      <origin rpy="0 0 0" xyz="-0.54 0 0"/>
      <geometry>
        <box size="0.02 0.9 0.24"/>
      </geometry>
    </collision>
  </link>
  <gazebo reference="drawer_island_col2_bottom_back_link">
    <material value="Ias/KitchenLightGray"/>
  </gazebo>
  <joint name="drawer_island_col2_bottom_bottom_fixed_joint" type="fixed">
    <origin rpy="0 0 0" xyz="0 0 0"/>
    <parent link="drawer_island_col2_bottom_link"/>
    <child link="drawer_island_col2_bottom_bottom_link"/>
  </joint>
  <link name="drawer_island_col2_bottom_bottom_link">
    <inertial>
      <mass value="1.0"/>
      <inertia ixx="0.0675333333333" ixy="0" ixz="0" iyy="0.0918" iyz="0" izz="0.0243333333333"/>
    </inertial>
    <visual>
      <origin rpy="0 0 0" xyz="-0.27 0 -0.11"/>
      <geometry>
        <box size="0.54 0.9 0.02"/>
      </geometry>
      <material name="KitchenDarkGray"/>
    </visual>
    <collision>
      <origin rpy="0 0 0" xyz="-0.27 0 -0.11"/>
      <geometry>
        <box size="0.54 0.9 0.02"/>
      </geometry>
    </collision>
  </link>
  <gazebo reference="drawer_island_col2_bottom_bottom_link">
    <material value="Ias/KitchenLightGray"/>
  </gazebo>
  <joint name="drawer_island_col2_bottom_handle_drawer_island_col2_bottom_joint" type="fixed">
    <origin rpy="0 0 0" xyz="0.0625 0.0 0.0925"/>
    <parent link="drawer_island_col2_bottom_link"/>
    <child link="handle_drawer_island_col2_bottom_link"/>
  </joint>
  <link name="handle_drawer_island_col2_bottom_link">
    <inertial>
      <mass value="0.1"/>
      <inertia ixx="0.00682604166667" ixy="0" ixz="0" iyy="0.00682604166667" iyz="0" izz="1.66666666667e-06"/>
    </inertial>
    <visual>
      <origin rpy="0 0 0" xyz="0 0 0"/>
      <geometry>
        <box size="0.01 0.905 0.01"/>
      </geometry>
      <material name="KitchenDarkGray"/>
    </visual>
    <collision>
      <origin rpy="0 0 0" xyz="0 0 0"/>
      <geometry>
        <box size="0.015 0.91 0.015"/>
      </geometry>
    </collision>
  </link>
  <gazebo reference="handle_drawer_island_col2_bottom_link">
    <material value="Ias/KitchenDarkGray"/>
  </gazebo>
  <joint name="island_block_drawer_island_col2_center_fixed_joint" type="fixed">
    <origin rpy="0 0 0" xyz="0.57 1.13 0.535"/>
    <parent link="island_block_link"/>
    <child link="drawer_island_col2_center_fixed_link"/>
  </joint>
  <link name="drawer_island_col2_center_fixed_link">
    <inertial>
      <mass value="1"/>
      <inertia ixx="4e-07" ixy="0" ixz="0" iyy="4e-07" iyz="0" izz="4e-07"/>
    </inertial>
  </link>
  <joint name="island_block_drawer_island_col2_center_joint" type="prismatic">
    <origin rpy="0 0 0" xyz="0 0 0"/>
    <parent link="drawer_island_col2_center_fixed_link"/>
    <child link="drawer_island_col2_center_link"/>
    <axis xyz="0.999 0 0.044"/>
    <!-- the axis needs to be slightly tilted so that the drawers would stay closed in Gazebo-->
    <limit effort="300" lower="0" upper="0.48" velocity="10"/>
  </joint>
  <gazebo reference="island_block_drawer_island_col2_center_joint">
    <erp>0.8</erp>
    <cfm>0.0000001</cfm>
    <stopKp>1000000.0</stopKp>
    <stopKd>1.0</stopKd>
  </gazebo>
  <link name="drawer_island_col2_center_link">
    <inertial>
      <mass value="1.0"/>
      <inertia ixx="0.0903416666667" ixy="0" ixz="0" iyy="0.0833666666667" iyz="0" izz="0.00704166666667"/>
    </inertial>
    <visual>
      <origin rpy="0 0 0" xyz="0 0 0"/>
      <geometry>
        <box size="0.02 0.995 0.285"/>
      </geometry>
      <material name="KitchenLightGray"/>
    </visual>
    <collision>
      <origin rpy="0 0 0" xyz="0 0 0"/>
      <geometry>
        <box size="0.02 1.0 0.29"/>
      </geometry>
    </collision>
  </link>
  <gazebo reference="drawer_island_col2_center_link">
    <material value="Ias/KitchenLightGray"/>
  </gazebo>
  <joint name="drawer_island_col2_center_left_fixed_joint" type="fixed">
    <origin rpy="0 0 0" xyz="0 0 0"/>
    <parent link="drawer_island_col2_center_link"/>
    <child link="drawer_island_col2_center_left_link"/>
  </joint>
  <link name="drawer_island_col2_center_left_link">
    <inertial>
      <mass value="1.0"/>
      <inertia ixx="0.00483333333333" ixy="0" ixz="0" iyy="0.0243333333333" iyz="0" izz="0.0291"/>
    </inertial>
    <visual>
      <origin rpy="0 0 0" xyz="-0.27 -0.44 0"/>
      <geometry>
        <box size="0.54 0.02 0.24"/>
      </geometry>
      <material name="KitchenDarkGray"/>
    </visual>
    <collision>
      <origin rpy="0 0 0" xyz="-0.27 -0.44 0"/>
      <geometry>
        <box size="0.54 0.02 0.24"/>
      </geometry>
    </collision>
  </link>
  <gazebo reference="drawer_island_col2_center_left_link">
    <material value="Ias/KitchenLightGray"/>
  </gazebo>
  <joint name="drawer_island_col2_center_right_fixed_joint" type="fixed">
    <origin rpy="0 0 0" xyz="0 0 0"/>
    <parent link="drawer_island_col2_center_link"/>
    <child link="drawer_island_col2_center_right_link"/>
  </joint>
  <link name="drawer_island_col2_center_right_link">
    <inertial>
      <mass value="1.0"/>
      <inertia ixx="0.00483333333333" ixy="0" ixz="0" iyy="0.0243333333333" iyz="0" izz="0.0291"/>
    </inertial>
    <visual>
      <origin rpy="0 0 0" xyz="-0.27 0.44 0"/>
      <geometry>
        <box size="0.54 0.02 0.24"/>
      </geometry>
      <material name="KitchenDarkGray"/>
    </visual>
    <collision>
      <origin rpy="0 0 0" xyz="-0.27 0.44 0"/>
      <geometry>
        <box size="0.54 0.02 0.24"/>
      </geometry>
    </collision>
  </link>
  <gazebo reference="drawer_island_col2_center_right_link">
    <material value="Ias/KitchenLightGray"/>
  </gazebo>
  <joint name="drawer_island_col2_center_back_fixed_joint" type="fixed">
    <origin rpy="0 0 0" xyz="0 0 0"/>
    <parent link="drawer_island_col2_center_link"/>
    <child link="drawer_island_col2_center_back_link"/>
  </joint>
  <link name="drawer_island_col2_center_back_link">
    <inertial>
      <mass value="1.0"/>
      <inertia ixx="0.0723" ixy="0" ixz="0" iyy="0.0675333333333" iyz="0" izz="0.00483333333333"/>
    </inertial>
    <visual>
      <origin rpy="0 0 0" xyz="-0.54 0 0"/>
      <geometry>
        <box size="0.02 0.9 0.24"/>
      </geometry>
      <material name="KitchenDarkGray"/>
    </visual>
    <collision>
      <origin rpy="0 0 0" xyz="-0.54 0 0"/>
      <geometry>
        <box size="0.02 0.9 0.24"/>
      </geometry>
    </collision>
  </link>
  <gazebo reference="drawer_island_col2_center_back_link">
    <material value="Ias/KitchenLightGray"/>
  </gazebo>
  <joint name="drawer_island_col2_center_bottom_fixed_joint" type="fixed">
    <origin rpy="0 0 0" xyz="0 0 0"/>
    <parent link="drawer_island_col2_center_link"/>
    <child link="drawer_island_col2_center_bottom_link"/>
  </joint>
  <link name="drawer_island_col2_center_bottom_link">
    <inertial>
      <mass value="1.0"/>
      <inertia ixx="0.0675333333333" ixy="0" ixz="0" iyy="0.0918" iyz="0" izz="0.0243333333333"/>
    </inertial>
    <visual>
      <origin rpy="0 0 0" xyz="-0.27 0 -0.11"/>
      <geometry>
        <box size="0.54 0.9 0.02"/>
      </geometry>
      <material name="KitchenDarkGray"/>
    </visual>
    <collision>
      <origin rpy="0 0 0" xyz="-0.27 0 -0.11"/>
      <geometry>
        <box size="0.54 0.9 0.02"/>
      </geometry>
    </collision>
  </link>
  <gazebo reference="drawer_island_col2_center_bottom_link">
    <material value="Ias/KitchenLightGray"/>
  </gazebo>
  <joint name="drawer_island_col2_center_handle_drawer_island_col2_center_joint" type="fixed">
    <origin rpy="0 0 0" xyz="0.0625 0.0 0.0925"/>
    <parent link="drawer_island_col2_center_link"/>
    <child link="handle_drawer_island_col2_center_link"/>
  </joint>
  <link name="handle_drawer_island_col2_center_link">
    <inertial>
      <mass value="0.1"/>
      <inertia ixx="0.00682604166667" ixy="0" ixz="0" iyy="0.00682604166667" iyz="0" izz="1.66666666667e-06"/>
    </inertial>
    <visual>
      <origin rpy="0 0 0" xyz="0 0 0"/>
      <geometry>
        <box size="0.01 0.905 0.01"/>
      </geometry>
      <material name="KitchenDarkGray"/>
    </visual>
    <collision>
      <origin rpy="0 0 0" xyz="0 0 0"/>
      <geometry>
        <box size="0.015 0.91 0.015"/>
      </geometry>
    </collision>
  </link>
  <gazebo reference="handle_drawer_island_col2_center_link">
    <material value="Ias/KitchenDarkGray"/>
  </gazebo>
  <joint name="island_block_drawer_island_col2_top_fixed_joint" type="fixed">
    <origin rpy="0 0 0" xyz="0.57 1.13 0.75"/>
    <parent link="island_block_link"/>
    <child link="drawer_island_col2_top_fixed_link"/>
  </joint>
  <link name="drawer_island_col2_top_fixed_link">
    <inertial>
      <mass value="1"/>
      <inertia ixx="4e-07" ixy="0" ixz="0" iyy="4e-07" iyz="0" izz="4e-07"/>
    </inertial>
  </link>
  <joint name="island_block_drawer_island_col2_top_joint" type="prismatic">
    <origin rpy="0 0 0" xyz="0 0 0"/>
    <parent link="drawer_island_col2_top_fixed_link"/>
    <child link="drawer_island_col2_top_link"/>
    <axis xyz="0.999 0 0.044"/>
    <!-- the axis needs to be slightly tilted so that the drawers would stay closed in Gazebo-->
    <limit effort="300" lower="0" upper="0.48" velocity="10"/>
  </joint>
  <gazebo reference="island_block_drawer_island_col2_top_joint">
    <erp>0.8</erp>
    <cfm>0.0000001</cfm>
    <stopKp>1000000.0</stopKp>
    <stopKd>1.0</stopKd>
  </gazebo>
  <link name="drawer_island_col2_top_link">
    <inertial>
      <mass value="1.0"/>
      <inertia ixx="0.0849666666667" ixy="0" ixz="0" iyy="0.0833666666667" iyz="0" izz="0.00166666666667"/>
    </inertial>
    <visual>
      <origin rpy="0 0 0" xyz="0 0 0"/>
      <geometry>
        <box size="0.02 0.995 0.135"/>
      </geometry>
      <material name="KitchenLightGray"/>
    </visual>
    <collision>
      <origin rpy="0 0 0" xyz="0 0 0"/>
      <geometry>
        <box size="0.02 1.0 0.14"/>
      </geometry>
    </collision>
  </link>
  <gazebo reference="drawer_island_col2_top_link">
    <material value="Ias/KitchenLightGray"/>
  </gazebo>
  <joint name="drawer_island_col2_top_left_fixed_joint" type="fixed">
    <origin rpy="0 0 0" xyz="0 0 0"/>
    <parent link="drawer_island_col2_top_link"/>
    <child link="drawer_island_col2_top_left_link"/>
  </joint>
  <link name="drawer_island_col2_top_left_link">
    <inertial>
      <mass value="1.0"/>
      <inertia ixx="0.000708333333333" ixy="0" ixz="0" iyy="0.0243333333333" iyz="0" izz="0.024975"/>
    </inertial>
    <visual>
      <origin rpy="0 0 0" xyz="-0.27 -0.44 0"/>
      <geometry>
        <box size="0.54 0.02 0.09"/>
      </geometry>
      <material name="KitchenDarkGray"/>
    </visual>
    <collision>
      <origin rpy="0 0 0" xyz="-0.27 -0.44 0"/>
      <geometry>
        <box size="0.54 0.02 0.09"/>
      </geometry>
    </collision>
  </link>
  <gazebo reference="drawer_island_col2_top_left_link">
    <material value="Ias/KitchenLightGray"/>
  </gazebo>
  <joint name="drawer_island_col2_top_right_fixed_joint" type="fixed">
    <origin rpy="0 0 0" xyz="0 0 0"/>
    <parent link="drawer_island_col2_top_link"/>
    <child link="drawer_island_col2_top_right_link"/>
  </joint>
  <link name="drawer_island_col2_top_right_link">
    <inertial>
      <mass value="1.0"/>
      <inertia ixx="0.000708333333333" ixy="0" ixz="0" iyy="0.0243333333333" iyz="0" izz="0.024975"/>
    </inertial>
    <visual>
      <origin rpy="0 0 0" xyz="-0.27 0.44 0"/>
      <geometry>
        <box size="0.54 0.02 0.09"/>
      </geometry>
      <material name="KitchenDarkGray"/>
    </visual>
    <collision>
      <origin rpy="0 0 0" xyz="-0.27 0.44 0"/>
      <geometry>
        <box size="0.54 0.02 0.09"/>
      </geometry>
    </collision>
  </link>
  <gazebo reference="drawer_island_col2_top_right_link">
    <material value="Ias/KitchenLightGray"/>
  </gazebo>
  <joint name="drawer_island_col2_top_back_fixed_joint" type="fixed">
    <origin rpy="0 0 0" xyz="0 0 0"/>
    <parent link="drawer_island_col2_top_link"/>
    <child link="drawer_island_col2_top_back_link"/>
  </joint>
  <link name="drawer_island_col2_top_back_link">
    <inertial>
      <mass value="1.0"/>
      <inertia ixx="0.068175" ixy="0" ixz="0" iyy="0.0675333333333" iyz="0" izz="0.000708333333333"/>
    </inertial>
    <visual>
      <origin rpy="0 0 0" xyz="-0.54 0 0"/>
      <geometry>
        <box size="0.02 0.9 0.09"/>
      </geometry>
      <material name="KitchenDarkGray"/>
    </visual>
    <collision>
      <origin rpy="0 0 0" xyz="-0.54 0 0"/>
      <geometry>
        <box size="0.02 0.9 0.09"/>
      </geometry>
    </collision>
  </link>
  <gazebo reference="drawer_island_col2_top_back_link">
    <material value="Ias/KitchenLightGray"/>
  </gazebo>
  <joint name="drawer_island_col2_top_bottom_fixed_joint" type="fixed">
    <origin rpy="0 0 0" xyz="0 0 0"/>
    <parent link="drawer_island_col2_top_link"/>
    <child link="drawer_island_col2_top_bottom_link"/>
  </joint>
  <link name="drawer_island_col2_top_bottom_link">
    <inertial>
      <mass value="1.0"/>
      <inertia ixx="0.0675333333333" ixy="0" ixz="0" iyy="0.0918" iyz="0" izz="0.0243333333333"/>
    </inertial>
    <visual>
      <origin rpy="0 0 0" xyz="-0.27 0 -0.035"/>
      <geometry>
        <box size="0.54 0.9 0.02"/>
      </geometry>
      <material name="KitchenDarkGray"/>
    </visual>
    <collision>
      <origin rpy="0 0 0" xyz="-0.27 0 -0.035"/>
      <geometry>
        <box size="0.54 0.9 0.02"/>
      </geometry>
    </collision>
  </link>
  <gazebo reference="drawer_island_col2_top_bottom_link">
    <material value="Ias/KitchenLightGray"/>
  </gazebo>
  <joint name="drawer_island_col2_top_handle_drawer_island_col2_top_joint" type="fixed">
    <origin rpy="0 0 0" xyz="0.0625 0.0 0.0175"/>
    <parent link="drawer_island_col2_top_link"/>
    <child link="handle_drawer_island_col2_top_link"/>
  </joint>
  <link name="handle_drawer_island_col2_top_link">
    <inertial>
      <mass value="0.1"/>
      <inertia ixx="0.00682604166667" ixy="0" ixz="0" iyy="0.00682604166667" iyz="0" izz="1.66666666667e-06"/>
    </inertial>
    <visual>
      <origin rpy="0 0 0" xyz="0 0 0"/>
      <geometry>
        <box size="0.01 0.905 0.01"/>
      </geometry>
      <material name="KitchenDarkGray"/>
    </visual>
    <collision>
      <origin rpy="0 0 0" xyz="0 0 0"/>
      <geometry>
        <box size="0.015 0.91 0.015"/>
      </geometry>
    </collision>
  </link>
  <gazebo reference="handle_drawer_island_col2_top_link">
    <material value="Ias/KitchenDarkGray"/>
  </gazebo>
  <joint name="island_block_drawer_island_col3_bottom_fixed_joint" type="fixed">
    <origin rpy="0 0 0" xyz="0.57 1.93 0.245"/>
    <parent link="island_block_link"/>
    <child link="drawer_island_col3_bottom_fixed_link"/>
  </joint>
  <link name="drawer_island_col3_bottom_fixed_link">
    <inertial>
      <mass value="1"/>
      <inertia ixx="4e-07" ixy="0" ixz="0" iyy="4e-07" iyz="0" izz="4e-07"/>
    </inertial>
  </link>
  <joint name="island_block_drawer_island_col3_bottom_joint" type="prismatic">
    <origin rpy="0 0 0" xyz="0 0 0"/>
    <parent link="drawer_island_col3_bottom_fixed_link"/>
    <child link="drawer_island_col3_bottom_link"/>
    <axis xyz="0.999 0 0.044"/>
    <!-- the axis needs to be slightly tilted so that the drawers would stay closed in Gazebo-->
    <limit effort="300" lower="0" upper="0.48" velocity="10"/>
  </joint>
  <gazebo reference="island_block_drawer_island_col3_bottom_joint">
    <erp>0.8</erp>
    <cfm>0.0000001</cfm>
    <stopKp>1000000.0</stopKp>
    <stopKd>1.0</stopKd>
  </gazebo>
  <link name="drawer_island_col3_bottom_link">
    <inertial>
      <mass value="1.0"/>
      <inertia ixx="0.0370083333333" ixy="0" ixz="0" iyy="0.0300333333333" iyz="0" izz="0.00704166666667"/>
    </inertial>
    <visual>
      <origin rpy="0 0 0" xyz="0 0 0"/>
      <geometry>
        <box size="0.02 0.595 0.285"/>
      </geometry>
      <material name="KitchenLightGray"/>
    </visual>
    <collision>
      <origin rpy="0 0 0" xyz="0 0 0"/>
      <geometry>
        <box size="0.02 0.6 0.29"/>
      </geometry>
    </collision>
  </link>
  <gazebo reference="drawer_island_col3_bottom_link">
    <material value="Ias/KitchenLightGray"/>
  </gazebo>
  <joint name="drawer_island_col3_bottom_left_fixed_joint" type="fixed">
    <origin rpy="0 0 0" xyz="0 0 0"/>
    <parent link="drawer_island_col3_bottom_link"/>
    <child link="drawer_island_col3_bottom_left_link"/>
  </joint>
  <link name="drawer_island_col3_bottom_left_link">
    <inertial>
      <mass value="1.0"/>
      <inertia ixx="0.00483333333333" ixy="0" ixz="0" iyy="0.0243333333333" iyz="0" izz="0.0291"/>
    </inertial>
    <visual>
      <origin rpy="0 0 0" xyz="-0.27 -0.24 0"/>
      <geometry>
        <box size="0.54 0.02 0.24"/>
      </geometry>
      <material name="KitchenDarkGray"/>
    </visual>
    <collision>
      <origin rpy="0 0 0" xyz="-0.27 -0.24 0"/>
      <geometry>
        <box size="0.54 0.02 0.24"/>
      </geometry>
    </collision>
  </link>
  <gazebo reference="drawer_island_col3_bottom_left_link">
    <material value="Ias/KitchenLightGray"/>
  </gazebo>
  <joint name="drawer_island_col3_bottom_right_fixed_joint" type="fixed">
    <origin rpy="0 0 0" xyz="0 0 0"/>
    <parent link="drawer_island_col3_bottom_link"/>
    <child link="drawer_island_col3_bottom_right_link"/>
  </joint>
  <link name="drawer_island_col3_bottom_right_link">
    <inertial>
      <mass value="1.0"/>
      <inertia ixx="0.00483333333333" ixy="0" ixz="0" iyy="0.0243333333333" iyz="0" izz="0.0291"/>
    </inertial>
    <visual>
      <origin rpy="0 0 0" xyz="-0.27 0.24 0"/>
      <geometry>
        <box size="0.54 0.02 0.24"/>
      </geometry>
      <material name="KitchenDarkGray"/>
    </visual>
    <collision>
      <origin rpy="0 0 0" xyz="-0.27 0.24 0"/>
      <geometry>
        <box size="0.54 0.02 0.24"/>
      </geometry>
    </collision>
  </link>
  <gazebo reference="drawer_island_col3_bottom_right_link">
    <material value="Ias/KitchenLightGray"/>
  </gazebo>
  <joint name="drawer_island_col3_bottom_back_fixed_joint" type="fixed">
    <origin rpy="0 0 0" xyz="0 0 0"/>
    <parent link="drawer_island_col3_bottom_link"/>
    <child link="drawer_island_col3_bottom_back_link"/>
  </joint>
  <link name="drawer_island_col3_bottom_back_link">
    <inertial>
      <mass value="1.0"/>
      <inertia ixx="0.0256333333333" ixy="0" ixz="0" iyy="0.0208666666667" iyz="0" izz="0.00483333333333"/>
    </inertial>
    <visual>
      <origin rpy="0 0 0" xyz="-0.54 0 0"/>
      <geometry>
        <box size="0.02 0.5 0.24"/>
      </geometry>
      <material name="KitchenDarkGray"/>
    </visual>
    <collision>
      <origin rpy="0 0 0" xyz="-0.54 0 0"/>
      <geometry>
        <box size="0.02 0.5 0.24"/>
      </geometry>
    </collision>
  </link>
  <gazebo reference="drawer_island_col3_bottom_back_link">
    <material value="Ias/KitchenLightGray"/>
  </gazebo>
  <joint name="drawer_island_col3_bottom_bottom_fixed_joint" type="fixed">
    <origin rpy="0 0 0" xyz="0 0 0"/>
    <parent link="drawer_island_col3_bottom_link"/>
    <child link="drawer_island_col3_bottom_bottom_link"/>
  </joint>
  <link name="drawer_island_col3_bottom_bottom_link">
    <inertial>
      <mass value="1.0"/>
      <inertia ixx="0.0208666666667" ixy="0" ixz="0" iyy="0.0451333333333" iyz="0" izz="0.0243333333333"/>
    </inertial>
    <visual>
      <origin rpy="0 0 0" xyz="-0.27 0 -0.11"/>
      <geometry>
        <box size="0.54 0.5 0.02"/>
      </geometry>
      <material name="KitchenDarkGray"/>
    </visual>
    <collision>
      <origin rpy="0 0 0" xyz="-0.27 0 -0.11"/>
      <geometry>
        <box size="0.54 0.5 0.02"/>
      </geometry>
    </collision>
  </link>
  <gazebo reference="drawer_island_col3_bottom_bottom_link">
    <material value="Ias/KitchenLightGray"/>
  </gazebo>
  <joint name="drawer_island_col3_bottom_handle_drawer_island_col3_bottom_joint" type="fixed">
    <origin rpy="0 0 0" xyz="0.0625 0.0 0.0925"/>
    <parent link="drawer_island_col3_bottom_link"/>
    <child link="handle_drawer_island_col3_bottom_link"/>
  </joint>
  <link name="handle_drawer_island_col3_bottom_link">
    <inertial>
      <mass value="0.1"/>
      <inertia ixx="0.00212604166667" ixy="0" ixz="0" iyy="0.00212604166667" iyz="0" izz="1.66666666667e-06"/>
    </inertial>
    <visual>
      <origin rpy="0 0 0" xyz="0 0 0"/>
      <geometry>
        <box size="0.01 0.505 0.01"/>
      </geometry>
      <material name="KitchenDarkGray"/>
    </visual>
    <collision>
      <origin rpy="0 0 0" xyz="0 0 0"/>
      <geometry>
        <box size="0.015 0.51 0.015"/>
      </geometry>
    </collision>
  </link>
  <gazebo reference="handle_drawer_island_col3_bottom_link">
    <material value="Ias/KitchenDarkGray"/>
  </gazebo>
  <joint name="island_block_drawer_island_col3_center_fixed_joint" type="fixed">
    <origin rpy="0 0 0" xyz="0.57 1.93 0.535"/>
    <parent link="island_block_link"/>
    <child link="drawer_island_col3_center_fixed_link"/>
  </joint>
  <link name="drawer_island_col3_center_fixed_link">
    <inertial>
      <mass value="1"/>
      <inertia ixx="4e-07" ixy="0" ixz="0" iyy="4e-07" iyz="0" izz="4e-07"/>
    </inertial>
  </link>
  <joint name="island_block_drawer_island_col3_center_joint" type="prismatic">
    <origin rpy="0 0 0" xyz="0 0 0"/>
    <parent link="drawer_island_col3_center_fixed_link"/>
    <child link="drawer_island_col3_center_link"/>
    <axis xyz="0.999 0 0.044"/>
    <!-- the axis needs to be slightly tilted so that the drawers would stay closed in Gazebo-->
    <limit effort="300" lower="0" upper="0.48" velocity="10"/>
  </joint>
  <gazebo reference="island_block_drawer_island_col3_center_joint">
    <erp>0.8</erp>
    <cfm>0.0000001</cfm>
    <stopKp>1000000.0</stopKp>
    <stopKd>1.0</stopKd>
  </gazebo>
  <link name="drawer_island_col3_center_link">
    <inertial>
      <mass value="1.0"/>
      <inertia ixx="0.0370083333333" ixy="0" ixz="0" iyy="0.0300333333333" iyz="0" izz="0.00704166666667"/>
    </inertial>
    <visual>
      <origin rpy="0 0 0" xyz="0 0 0"/>
      <geometry>
        <box size="0.02 0.595 0.285"/>
      </geometry>
      <material name="KitchenLightGray"/>
    </visual>
    <collision>
      <origin rpy="0 0 0" xyz="0 0 0"/>
      <geometry>
        <box size="0.02 0.6 0.29"/>
      </geometry>
    </collision>
  </link>
  <gazebo reference="drawer_island_col3_center_link">
    <material value="Ias/KitchenLightGray"/>
  </gazebo>
  <joint name="drawer_island_col3_center_left_fixed_joint" type="fixed">
    <origin rpy="0 0 0" xyz="0 0 0"/>
    <parent link="drawer_island_col3_center_link"/>
    <child link="drawer_island_col3_center_left_link"/>
  </joint>
  <link name="drawer_island_col3_center_left_link">
    <inertial>
      <mass value="1.0"/>
      <inertia ixx="0.00483333333333" ixy="0" ixz="0" iyy="0.0243333333333" iyz="0" izz="0.0291"/>
    </inertial>
    <visual>
      <origin rpy="0 0 0" xyz="-0.27 -0.24 0"/>
      <geometry>
        <box size="0.54 0.02 0.24"/>
      </geometry>
      <material name="KitchenDarkGray"/>
    </visual>
    <collision>
      <origin rpy="0 0 0" xyz="-0.27 -0.24 0"/>
      <geometry>
        <box size="0.54 0.02 0.24"/>
      </geometry>
    </collision>
  </link>
  <gazebo reference="drawer_island_col3_center_left_link">
    <material value="Ias/KitchenLightGray"/>
  </gazebo>
  <joint name="drawer_island_col3_center_right_fixed_joint" type="fixed">
    <origin rpy="0 0 0" xyz="0 0 0"/>
    <parent link="drawer_island_col3_center_link"/>
    <child link="drawer_island_col3_center_right_link"/>
  </joint>
  <link name="drawer_island_col3_center_right_link">
    <inertial>
      <mass value="1.0"/>
      <inertia ixx="0.00483333333333" ixy="0" ixz="0" iyy="0.0243333333333" iyz="0" izz="0.0291"/>
    </inertial>
    <visual>
      <origin rpy="0 0 0" xyz="-0.27 0.24 0"/>
      <geometry>
        <box size="0.54 0.02 0.24"/>
      </geometry>
      <material name="KitchenDarkGray"/>
    </visual>
    <collision>
      <origin rpy="0 0 0" xyz="-0.27 0.24 0"/>
      <geometry>
        <box size="0.54 0.02 0.24"/>
      </geometry>
    </collision>
  </link>
  <gazebo reference="drawer_island_col3_center_right_link">
    <material value="Ias/KitchenLightGray"/>
  </gazebo>
  <joint name="drawer_island_col3_center_back_fixed_joint" type="fixed">
    <origin rpy="0 0 0" xyz="0 0 0"/>
    <parent link="drawer_island_col3_center_link"/>
    <child link="drawer_island_col3_center_back_link"/>
  </joint>
  <link name="drawer_island_col3_center_back_link">
    <inertial>
      <mass value="1.0"/>
      <inertia ixx="0.0256333333333" ixy="0" ixz="0" iyy="0.0208666666667" iyz="0" izz="0.00483333333333"/>
    </inertial>
    <visual>
      <origin rpy="0 0 0" xyz="-0.54 0 0"/>
      <geometry>
        <box size="0.02 0.5 0.24"/>
      </geometry>
      <material name="KitchenDarkGray"/>
    </visual>
    <collision>
      <origin rpy="0 0 0" xyz="-0.54 0 0"/>
      <geometry>
        <box size="0.02 0.5 0.24"/>
      </geometry>
    </collision>
  </link>
  <gazebo reference="drawer_island_col3_center_back_link">
    <material value="Ias/KitchenLightGray"/>
  </gazebo>
  <joint name="drawer_island_col3_center_bottom_fixed_joint" type="fixed">
    <origin rpy="0 0 0" xyz="0 0 0"/>
    <parent link="drawer_island_col3_center_link"/>
    <child link="drawer_island_col3_center_bottom_link"/>
  </joint>
  <link name="drawer_island_col3_center_bottom_link">
    <inertial>
      <mass value="1.0"/>
      <inertia ixx="0.0208666666667" ixy="0" ixz="0" iyy="0.0451333333333" iyz="0" izz="0.0243333333333"/>
    </inertial>
    <visual>
      <origin rpy="0 0 0" xyz="-0.27 0 -0.11"/>
      <geometry>
        <box size="0.54 0.5 0.02"/>
      </geometry>
      <material name="KitchenDarkGray"/>
    </visual>
    <collision>
      <origin rpy="0 0 0" xyz="-0.27 0 -0.11"/>
      <geometry>
        <box size="0.54 0.5 0.02"/>
      </geometry>
    </collision>
  </link>
  <gazebo reference="drawer_island_col3_center_bottom_link">
    <material value="Ias/KitchenLightGray"/>
  </gazebo>
  <joint name="drawer_island_col3_center_handle_drawer_island_col3_center_joint" type="fixed">
    <origin rpy="0 0 0" xyz="0.0625 0.0 0.0925"/>
    <parent link="drawer_island_col3_center_link"/>
    <child link="handle_drawer_island_col3_center_link"/>
  </joint>
  <link name="handle_drawer_island_col3_center_link">
    <inertial>
      <mass value="0.1"/>
      <inertia ixx="0.00212604166667" ixy="0" ixz="0" iyy="0.00212604166667" iyz="0" izz="1.66666666667e-06"/>
    </inertial>
    <visual>
      <origin rpy="0 0 0" xyz="0 0 0"/>
      <geometry>
        <box size="0.01 0.505 0.01"/>
      </geometry>
      <material name="KitchenDarkGray"/>
    </visual>
    <collision>
      <origin rpy="0 0 0" xyz="0 0 0"/>
      <geometry>
        <box size="0.015 0.51 0.015"/>
      </geometry>
    </collision>
  </link>
  <gazebo reference="handle_drawer_island_col3_center_link">
    <material value="Ias/KitchenDarkGray"/>
  </gazebo>
  <joint name="island_block_drawer_island_col3_top_fixed_joint" type="fixed">
    <origin rpy="0 0 0" xyz="0.57 1.93 0.75"/>
    <parent link="island_block_link"/>
    <child link="drawer_island_col3_top_fixed_link"/>
  </joint>
  <link name="drawer_island_col3_top_fixed_link">
    <inertial>
      <mass value="1"/>
      <inertia ixx="4e-07" ixy="0" ixz="0" iyy="4e-07" iyz="0" izz="4e-07"/>
    </inertial>
  </link>
  <joint name="island_block_drawer_island_col3_top_joint" type="prismatic">
    <origin rpy="0 0 0" xyz="0 0 0"/>
    <parent link="drawer_island_col3_top_fixed_link"/>
    <child link="drawer_island_col3_top_link"/>
    <axis xyz="0.999 0 0.044"/>
    <!-- the axis needs to be slightly tilted so that the drawers would stay closed in Gazebo-->
    <limit effort="300" lower="0" upper="0.48" velocity="10"/>
  </joint>
  <gazebo reference="island_block_drawer_island_col3_top_joint">
    <erp>0.8</erp>
    <cfm>0.0000001</cfm>
    <stopKp>1000000.0</stopKp>
    <stopKd>1.0</stopKd>
  </gazebo>
  <link name="drawer_island_col3_top_link">
    <inertial>
      <mass value="1.0"/>
      <inertia ixx="0.0316333333333" ixy="0" ixz="0" iyy="0.0300333333333" iyz="0" izz="0.00166666666667"/>
    </inertial>
    <visual>
      <origin rpy="0 0 0" xyz="0 0 0"/>
      <geometry>
        <box size="0.02 0.595 0.135"/>
      </geometry>
      <material name="KitchenLightGray"/>
    </visual>
    <collision>
      <origin rpy="0 0 0" xyz="0 0 0"/>
      <geometry>
        <box size="0.02 0.6 0.14"/>
      </geometry>
    </collision>
  </link>
  <gazebo reference="drawer_island_col3_top_link">
    <material value="Ias/KitchenLightGray"/>
  </gazebo>
  <joint name="drawer_island_col3_top_left_fixed_joint" type="fixed">
    <origin rpy="0 0 0" xyz="0 0 0"/>
    <parent link="drawer_island_col3_top_link"/>
    <child link="drawer_island_col3_top_left_link"/>
  </joint>
  <link name="drawer_island_col3_top_left_link">
    <inertial>
      <mass value="1.0"/>
      <inertia ixx="0.000708333333333" ixy="0" ixz="0" iyy="0.0243333333333" iyz="0" izz="0.024975"/>
    </inertial>
    <visual>
      <origin rpy="0 0 0" xyz="-0.27 -0.24 0"/>
      <geometry>
        <box size="0.54 0.02 0.09"/>
      </geometry>
      <material name="KitchenDarkGray"/>
    </visual>
    <collision>
      <origin rpy="0 0 0" xyz="-0.27 -0.24 0"/>
      <geometry>
        <box size="0.54 0.02 0.09"/>
      </geometry>
    </collision>
  </link>
  <gazebo reference="drawer_island_col3_top_left_link">
    <material value="Ias/KitchenLightGray"/>
  </gazebo>
  <joint name="drawer_island_col3_top_right_fixed_joint" type="fixed">
    <origin rpy="0 0 0" xyz="0 0 0"/>
    <parent link="drawer_island_col3_top_link"/>
    <child link="drawer_island_col3_top_right_link"/>
  </joint>
  <link name="drawer_island_col3_top_right_link">
    <inertial>
      <mass value="1.0"/>
      <inertia ixx="0.000708333333333" ixy="0" ixz="0" iyy="0.0243333333333" iyz="0" izz="0.024975"/>
    </inertial>
    <visual>
      <origin rpy="0 0 0" xyz="-0.27 0.24 0"/>
      <geometry>
        <box size="0.54 0.02 0.09"/>
      </geometry>
      <material name="KitchenDarkGray"/>
    </visual>
    <collision>
      <origin rpy="0 0 0" xyz="-0.27 0.24 0"/>
      <geometry>
        <box size="0.54 0.02 0.09"/>
      </geometry>
    </collision>
  </link>
  <gazebo reference="drawer_island_col3_top_right_link">
    <material value="Ias/KitchenLightGray"/>
  </gazebo>
  <joint name="drawer_island_col3_top_back_fixed_joint" type="fixed">
    <origin rpy="0 0 0" xyz="0 0 0"/>
    <parent link="drawer_island_col3_top_link"/>
    <child link="drawer_island_col3_top_back_link"/>
  </joint>
  <link name="drawer_island_col3_top_back_link">
    <inertial>
      <mass value="1.0"/>
      <inertia ixx="0.0215083333333" ixy="0" ixz="0" iyy="0.0208666666667" iyz="0" izz="0.000708333333333"/>
    </inertial>
    <visual>
      <origin rpy="0 0 0" xyz="-0.54 0 0"/>
      <geometry>
        <box size="0.02 0.5 0.09"/>
      </geometry>
      <material name="KitchenDarkGray"/>
    </visual>
    <collision>
      <origin rpy="0 0 0" xyz="-0.54 0 0"/>
      <geometry>
        <box size="0.02 0.5 0.09"/>
      </geometry>
    </collision>
  </link>
  <gazebo reference="drawer_island_col3_top_back_link">
    <material value="Ias/KitchenLightGray"/>
  </gazebo>
  <joint name="drawer_island_col3_top_bottom_fixed_joint" type="fixed">
    <origin rpy="0 0 0" xyz="0 0 0"/>
    <parent link="drawer_island_col3_top_link"/>
    <child link="drawer_island_col3_top_bottom_link"/>
  </joint>
  <link name="drawer_island_col3_top_bottom_link">
    <inertial>
      <mass value="1.0"/>
      <inertia ixx="0.0208666666667" ixy="0" ixz="0" iyy="0.0451333333333" iyz="0" izz="0.0243333333333"/>
    </inertial>
    <visual>
      <origin rpy="0 0 0" xyz="-0.27 0 -0.035"/>
      <geometry>
        <box size="0.54 0.5 0.02"/>
      </geometry>
      <material name="KitchenDarkGray"/>
    </visual>
    <collision>
      <origin rpy="0 0 0" xyz="-0.27 0 -0.035"/>
      <geometry>
        <box size="0.54 0.5 0.02"/>
      </geometry>
    </collision>
  </link>
  <gazebo reference="drawer_island_col3_top_bottom_link">
    <material value="Ias/KitchenLightGray"/>
  </gazebo>
  <joint name="drawer_island_col3_top_handle_drawer_island_col3_top_joint" type="fixed">
    <origin rpy="0 0 0" xyz="0.0625 0.0 0.0175"/>
    <parent link="drawer_island_col3_top_link"/>
    <child link="handle_drawer_island_col3_top_link"/>
  </joint>
  <link name="handle_drawer_island_col3_top_link">
    <inertial>
      <mass value="0.1"/>
      <inertia ixx="0.00212604166667" ixy="0" ixz="0" iyy="0.00212604166667" iyz="0" izz="1.66666666667e-06"/>
    </inertial>
    <visual>
      <origin rpy="0 0 0" xyz="0 0 0"/>
      <geometry>
        <box size="0.01 0.505 0.01"/>
      </geometry>
      <material name="KitchenDarkGray"/>
    </visual>
    <collision>
      <origin rpy="0 0 0" xyz="0 0 0"/>
      <geometry>
        <box size="0.015 0.51 0.015"/>
      </geometry>
    </collision>
  </link>
  <gazebo reference="handle_drawer_island_col3_top_link">
    <material value="Ias/KitchenDarkGray"/>
  </gazebo>
  <joint name="island_block_skirting_island_joint" type="fixed">
    <origin rpy="0 0 0" xyz="0.275 1.13 0.05"/>
    <parent link="island_block_link"/>
    <child link="skirting_island_link"/>
  </joint>
  <link name="skirting_island_link">
    <inertial>
      <mass value="10"/>
      <inertia ixx="4.04166666667" ixy="0" ixz="0" iyy="4.25008333333" iyz="0" izz="0.225083333333"/>
    </inertial>
    <visual>
      <origin rpy="0 0 0" xyz="0 0 0"/>
      <geometry>
        <box size="0.51 2.2 0.1"/>
      </geometry>
      <material name="KitchenDarkGray"/>
    </visual>
    <collision>
      <origin rpy="0 0 0" xyz="0 0 0"/>
      <geometry>
        <box size="0.51 2.2 0.1"/>
      </geometry>
    </collision>
  </link>
  <gazebo reference="skirting_island_link">
    <material value="Ias/KitchenDarkGray"/>
  </gazebo>
  <joint name="island_block_joint" type="fixed">
    <origin rpy="0 0 3.141" xyz="3.700 2.300 0"/>
    <parent link="kitchen_link"/>
    <child link="island_block_link"/>
  </joint>
  <link name="island_block_link">
    <inertial>
      <mass value="0"/>
      <inertia ixx="0.0" ixy="0" ixz="0" iyy="0.0" iyz="0" izz="0.0"/>
    </inertial>
    <visual>
      <origin rpy="0 0 0" xyz="0 0 0"/>
      <geometry>
        <box size=".1 .1 .1"/>
      </geometry>
    </visual>
  </link>
  <joint name="oven_block_counter_top_oven_joint" type="fixed">
    <origin rpy="0 0 0" xyz="0.29 0.6 1.495"/>
    <parent link="oven_block_link"/>
    <child link="counter_top_oven_link"/>
  </joint>
  <link name="counter_top_oven_link">
    <inertial>
      <mass value="2.0"/>
      <inertia ixx="0.24015" ixy="0" ixz="0" iyy="0.296066666667" iyz="0" izz="0.0562166666667"/>
    </inertial>
    <visual>
      <origin rpy="0 0 0" xyz="0 0 0"/>
      <geometry>
        <box size="0.58 1.2 0.03"/>
      </geometry>
      <material name="KitchenDarkGray"/>
    </visual>
    <collision>
      <origin rpy="0 0 0" xyz="0 0 0"/>
      <geometry>
        <box size="0.58 1.2 0.03"/>
      </geometry>
    </collision>
  </link>
  <gazebo reference="counter_top_oven_link">
    <kp>100000</kp>
    <kd>1000000</kd>
    <mu1>50000</mu1>
    <mu2>50000</mu2>
    <material value="Ias/KitchenDarkGray"/>
  </gazebo>
  <joint name="oven_block_drawer_oven_left_fixed_joint" type="fixed">
    <origin rpy="0 0 0" xyz="0.29 0.15 0.815"/>
    <parent link="oven_block_link"/>
    <child link="drawer_oven_left_fixed_link"/>
  </joint>
  <link name="drawer_oven_left_fixed_link">
    <inertial>
      <mass value="0.1"/>
      <inertia ixx="4e-08" ixy="0" ixz="0" iyy="4e-08" iyz="0" izz="4e-08"/>
    </inertial>
  </link>
  <joint name="oven_block_drawer_oven_left_joint" type="prismatic">
    <origin rpy="0 0 0" xyz="0 0 0"/>
    <parent link="drawer_oven_left_fixed_link"/>
    <child link="drawer_oven_left_link"/>
    <axis xyz="0.999 0 0.044"/>
    <!-- the axis needs to be slightly tilted so that the drawers would stay closed in Gazebo-->
    <limit effort="300" lower="0" upper="0.48" velocity="10"/>
  </joint>
  <link name="drawer_oven_left_link">
    <inertial>
      <mass value="1.0"/>
      <inertia ixx="0.153554166667" ixy="0" ixz="0" iyy="0.0348041666667" iyz="0" izz="0.173854166667"/>
    </inertial>
    <visual>
      <origin rpy="0 0 0" xyz="0 0 0"/>
      <geometry>
        <box size="0.575 0.295 1.325"/>
      </geometry>
      <material name="KitchenLightGray"/>
    </visual>
    <collision>
      <origin rpy="0 0 0" xyz="0 0 0"/>
      <geometry>
        <box size="0.58 0.3 1.33"/>
      </geometry>
    </collision>
  </link>
  <gazebo reference="drawer_oven_left_link">
    <material value="Ias/KitchenLightGray"/>
  </gazebo>
  <joint name="drawer_oven_left_handle_drawer_oven_left_joint" type="fixed">
    <origin rpy="0 0 0" xyz="0.3525 0.0 0.0"/>
    <parent link="drawer_oven_left_link"/>
    <child link="handle_drawer_oven_left_link"/>
  </joint>
  <link name="handle_drawer_oven_left_link">
    <inertial>
      <mass value="0.1"/>
      <inertia ixx="0.0127110416667" ixy="0" ixz="0" iyy="1.66666666667e-06" iyz="0" izz="0.0127110416667"/>
    </inertial>
    <visual>
      <origin rpy="0 0 0" xyz="0 0 0"/>
      <geometry>
        <box size="0.01 0.01 1.235"/>
      </geometry>
      <material name="KitchenDarkGray"/>
    </visual>
    <collision>
      <origin rpy="0 0 0" xyz="0 0 0"/>
      <geometry>
        <box size="0.015 0.015 1.24"/>
      </geometry>
    </collision>
  </link>
  <gazebo reference="handle_drawer_oven_left_link">
    <material value="Ias/KitchenDarkGray"/>
  </gazebo>
  <joint name="oven_block_drawer_oven_bottom_fixed_joint" type="fixed">
    <origin rpy="0 0 0" xyz="0.57 0.6 0.44"/>
    <parent link="oven_block_link"/>
    <child link="drawer_oven_bottom_fixed_link"/>
  </joint>
  <link name="drawer_oven_bottom_fixed_link">
    <inertial>
      <mass value="1"/>
      <inertia ixx="4e-07" ixy="0" ixz="0" iyy="4e-07" iyz="0" izz="4e-07"/>
    </inertial>
  </link>
  <joint name="oven_block_drawer_oven_bottom_joint" type="prismatic">
    <origin rpy="0 0 0" xyz="0 0 0"/>
    <parent link="drawer_oven_bottom_fixed_link"/>
    <child link="drawer_oven_bottom_link"/>
    <axis xyz="0.999 0 0.044"/>
    <!-- the axis needs to be slightly tilted so that the drawers would stay closed in Gazebo-->
    <limit effort="300" lower="0" upper="0.48" velocity="10"/>
  </joint>
  <gazebo reference="oven_block_drawer_oven_bottom_joint">
    <erp>0.8</erp>
    <cfm>0.0000001</cfm>
    <stopKp>1000000.0</stopKp>
    <stopKd>1.0</stopKd>
  </gazebo>
  <link name="drawer_oven_bottom_link">
    <inertial>
      <mass value="1.0"/>
      <inertia ixx="0.0580333333333" ixy="0" ixz="0" iyy="0.0300333333333" iyz="0" izz="0.0280666666667"/>
    </inertial>
    <visual>
      <origin rpy="0 0 0" xyz="0 0 0"/>
      <geometry>
        <box size="0.02 0.595 0.575"/>
      </geometry>
      <material name="KitchenLightGray"/>
    </visual>
    <collision>
      <origin rpy="0 0 0" xyz="0 0 0"/>
      <geometry>
        <box size="0.02 0.6 0.58"/>
      </geometry>
    </collision>
  </link>
  <gazebo reference="drawer_oven_bottom_link">
    <material value="Ias/KitchenLightGray"/>
  </gazebo>
  <joint name="drawer_oven_bottom_left_fixed_joint" type="fixed">
    <origin rpy="0 0 0" xyz="0 0 0"/>
    <parent link="drawer_oven_bottom_link"/>
    <child link="drawer_oven_bottom_left_link"/>
  </joint>
  <link name="drawer_oven_bottom_left_link">
    <inertial>
      <mass value="1.0"/>
      <inertia ixx="0.0234416666667" ixy="0" ixz="0" iyy="0.0243333333333" iyz="0" izz="0.0477083333333"/>
    </inertial>
    <visual>
      <origin rpy="0 0 0" xyz="-0.27 -0.24 0"/>
      <geometry>
        <box size="0.54 0.02 0.53"/>
      </geometry>
      <material name="KitchenDarkGray"/>
    </visual>
    <collision>
      <origin rpy="0 0 0" xyz="-0.27 -0.24 0"/>
      <geometry>
        <box size="0.54 0.02 0.53"/>
      </geometry>
    </collision>
  </link>
  <gazebo reference="drawer_oven_bottom_left_link">
    <material value="Ias/KitchenLightGray"/>
  </gazebo>
  <joint name="drawer_oven_bottom_right_fixed_joint" type="fixed">
    <origin rpy="0 0 0" xyz="0 0 0"/>
    <parent link="drawer_oven_bottom_link"/>
    <child link="drawer_oven_bottom_right_link"/>
  </joint>
  <link name="drawer_oven_bottom_right_link">
    <inertial>
      <mass value="1.0"/>
      <inertia ixx="0.0234416666667" ixy="0" ixz="0" iyy="0.0243333333333" iyz="0" izz="0.0477083333333"/>
    </inertial>
    <visual>
      <origin rpy="0 0 0" xyz="-0.27 0.24 0"/>
      <geometry>
        <box size="0.54 0.02 0.53"/>
      </geometry>
      <material name="KitchenDarkGray"/>
    </visual>
    <collision>
      <origin rpy="0 0 0" xyz="-0.27 0.24 0"/>
      <geometry>
        <box size="0.54 0.02 0.53"/>
      </geometry>
    </collision>
  </link>
  <gazebo reference="drawer_oven_bottom_right_link">
    <material value="Ias/KitchenLightGray"/>
  </gazebo>
  <joint name="drawer_oven_bottom_back_fixed_joint" type="fixed">
    <origin rpy="0 0 0" xyz="0 0 0"/>
    <parent link="drawer_oven_bottom_link"/>
    <child link="drawer_oven_bottom_back_link"/>
  </joint>
  <link name="drawer_oven_bottom_back_link">
    <inertial>
      <mass value="1.0"/>
      <inertia ixx="0.0442416666667" ixy="0" ixz="0" iyy="0.0208666666667" iyz="0" izz="0.0234416666667"/>
    </inertial>
    <visual>
      <origin rpy="0 0 0" xyz="-0.54 0 0"/>
      <geometry>
        <box size="0.02 0.5 0.53"/>
      </geometry>
      <material name="KitchenDarkGray"/>
    </visual>
    <collision>
      <origin rpy="0 0 0" xyz="-0.54 0 0"/>
      <geometry>
        <box size="0.02 0.5 0.53"/>
      </geometry>
    </collision>
  </link>
  <gazebo reference="drawer_oven_bottom_back_link">
    <material value="Ias/KitchenLightGray"/>
  </gazebo>
  <joint name="drawer_oven_bottom_bottom_fixed_joint" type="fixed">
    <origin rpy="0 0 0" xyz="0 0 0"/>
    <parent link="drawer_oven_bottom_link"/>
    <child link="drawer_oven_bottom_bottom_link"/>
  </joint>
  <link name="drawer_oven_bottom_bottom_link">
    <inertial>
      <mass value="1.0"/>
      <inertia ixx="0.0208666666667" ixy="0" ixz="0" iyy="0.0451333333333" iyz="0" izz="0.0243333333333"/>
    </inertial>
    <visual>
      <origin rpy="0 0 0" xyz="-0.27 0 -0.255"/>
      <geometry>
        <box size="0.54 0.5 0.02"/>
      </geometry>
      <material name="KitchenDarkGray"/>
    </visual>
    <collision>
      <origin rpy="0 0 0" xyz="-0.27 0 -0.255"/>
      <geometry>
        <box size="0.54 0.5 0.02"/>
      </geometry>
    </collision>
  </link>
  <gazebo reference="drawer_oven_bottom_bottom_link">
    <material value="Ias/KitchenLightGray"/>
  </gazebo>
  <joint name="drawer_oven_bottom_handle_drawer_oven_bottom_joint" type="fixed">
    <origin rpy="0 0 0" xyz="0.0625 0.0 0.2375"/>
    <parent link="drawer_oven_bottom_link"/>
    <child link="handle_drawer_oven_bottom_link"/>
  </joint>
  <link name="handle_drawer_oven_bottom_link">
    <inertial>
      <mass value="0.1"/>
      <inertia ixx="0.00212604166667" ixy="0" ixz="0" iyy="0.00212604166667" iyz="0" izz="1.66666666667e-06"/>
    </inertial>
    <visual>
      <origin rpy="0 0 0" xyz="0 0 0"/>
      <geometry>
        <box size="0.01 0.505 0.01"/>
      </geometry>
      <material name="KitchenDarkGray"/>
    </visual>
    <collision>
      <origin rpy="0 0 0" xyz="0 0 0"/>
      <geometry>
        <box size="0.015 0.51 0.015"/>
      </geometry>
    </collision>
  </link>
  <gazebo reference="handle_drawer_oven_bottom_link">
    <material value="Ias/KitchenDarkGray"/>
  </gazebo>
  <joint name="oven_block_drawer_oven_center_fixed_joint" type="fixed">
    <origin rpy="0 0 0" xyz="0.57 0.6 0.8"/>
    <parent link="oven_block_link"/>
    <child link="drawer_oven_center_fixed_link"/>
  </joint>
  <link name="drawer_oven_center_fixed_link">
    <inertial>
      <mass value="1"/>
      <inertia ixx="4e-07" ixy="0" ixz="0" iyy="4e-07" iyz="0" izz="4e-07"/>
    </inertial>
  </link>
  <joint name="oven_block_drawer_oven_center_joint" type="prismatic">
    <origin rpy="0 0 0" xyz="0 0 0"/>
    <parent link="drawer_oven_center_fixed_link"/>
    <child link="drawer_oven_center_link"/>
    <axis xyz="0.999 0 0.044"/>
    <!-- the axis needs to be slightly tilted so that the drawers would stay closed in Gazebo-->
    <limit effort="300" lower="0" upper="0.48" velocity="10"/>
  </joint>
  <gazebo reference="oven_block_drawer_oven_center_joint">
    <erp>0.8</erp>
    <cfm>0.0000001</cfm>
    <stopKp>1000000.0</stopKp>
    <stopKd>1.0</stopKd>
  </gazebo>
  <link name="drawer_oven_center_link">
    <inertial>
      <mass value="1.0"/>
      <inertia ixx="0.0316333333333" ixy="0" ixz="0" iyy="0.0300333333333" iyz="0" izz="0.00166666666667"/>
    </inertial>
    <visual>
      <origin rpy="0 0 0" xyz="0 0 0"/>
      <geometry>
        <box size="0.02 0.595 0.135"/>
      </geometry>
      <material name="KitchenLightGray"/>
    </visual>
    <collision>
      <origin rpy="0 0 0" xyz="0 0 0"/>
      <geometry>
        <box size="0.02 0.6 0.14"/>
      </geometry>
    </collision>
  </link>
  <gazebo reference="drawer_oven_center_link">
    <material value="Ias/KitchenLightGray"/>
  </gazebo>
  <joint name="drawer_oven_center_left_fixed_joint" type="fixed">
    <origin rpy="0 0 0" xyz="0 0 0"/>
    <parent link="drawer_oven_center_link"/>
    <child link="drawer_oven_center_left_link"/>
  </joint>
  <link name="drawer_oven_center_left_link">
    <inertial>
      <mass value="1.0"/>
      <inertia ixx="0.000708333333333" ixy="0" ixz="0" iyy="0.0243333333333" iyz="0" izz="0.024975"/>
    </inertial>
    <visual>
      <origin rpy="0 0 0" xyz="-0.27 -0.24 0"/>
      <geometry>
        <box size="0.54 0.02 0.09"/>
      </geometry>
      <material name="KitchenDarkGray"/>
    </visual>
    <collision>
      <origin rpy="0 0 0" xyz="-0.27 -0.24 0"/>
      <geometry>
        <box size="0.54 0.02 0.09"/>
      </geometry>
    </collision>
  </link>
  <gazebo reference="drawer_oven_center_left_link">
    <material value="Ias/KitchenLightGray"/>
  </gazebo>
  <joint name="drawer_oven_center_right_fixed_joint" type="fixed">
    <origin rpy="0 0 0" xyz="0 0 0"/>
    <parent link="drawer_oven_center_link"/>
    <child link="drawer_oven_center_right_link"/>
  </joint>
  <link name="drawer_oven_center_right_link">
    <inertial>
      <mass value="1.0"/>
      <inertia ixx="0.000708333333333" ixy="0" ixz="0" iyy="0.0243333333333" iyz="0" izz="0.024975"/>
    </inertial>
    <visual>
      <origin rpy="0 0 0" xyz="-0.27 0.24 0"/>
      <geometry>
        <box size="0.54 0.02 0.09"/>
      </geometry>
      <material name="KitchenDarkGray"/>
    </visual>
    <collision>
      <origin rpy="0 0 0" xyz="-0.27 0.24 0"/>
      <geometry>
        <box size="0.54 0.02 0.09"/>
      </geometry>
    </collision>
  </link>
  <gazebo reference="drawer_oven_center_right_link">
    <material value="Ias/KitchenLightGray"/>
  </gazebo>
  <joint name="drawer_oven_center_back_fixed_joint" type="fixed">
    <origin rpy="0 0 0" xyz="0 0 0"/>
    <parent link="drawer_oven_center_link"/>
    <child link="drawer_oven_center_back_link"/>
  </joint>
  <link name="drawer_oven_center_back_link">
    <inertial>
      <mass value="1.0"/>
      <inertia ixx="0.0215083333333" ixy="0" ixz="0" iyy="0.0208666666667" iyz="0" izz="0.000708333333333"/>
    </inertial>
    <visual>
      <origin rpy="0 0 0" xyz="-0.54 0 0"/>
      <geometry>
        <box size="0.02 0.5 0.09"/>
      </geometry>
      <material name="KitchenDarkGray"/>
    </visual>
    <collision>
      <origin rpy="0 0 0" xyz="-0.54 0 0"/>
      <geometry>
        <box size="0.02 0.5 0.09"/>
      </geometry>
    </collision>
  </link>
  <gazebo reference="drawer_oven_center_back_link">
    <material value="Ias/KitchenLightGray"/>
  </gazebo>
  <joint name="drawer_oven_center_bottom_fixed_joint" type="fixed">
    <origin rpy="0 0 0" xyz="0 0 0"/>
    <parent link="drawer_oven_center_link"/>
    <child link="drawer_oven_center_bottom_link"/>
  </joint>
  <link name="drawer_oven_center_bottom_link">
    <inertial>
      <mass value="1.0"/>
      <inertia ixx="0.0208666666667" ixy="0" ixz="0" iyy="0.0451333333333" iyz="0" izz="0.0243333333333"/>
    </inertial>
    <visual>
      <origin rpy="0 0 0" xyz="-0.27 0 -0.035"/>
      <geometry>
        <box size="0.54 0.5 0.02"/>
      </geometry>
      <material name="KitchenDarkGray"/>
    </visual>
    <collision>
      <origin rpy="0 0 0" xyz="-0.27 0 -0.035"/>
      <geometry>
        <box size="0.54 0.5 0.02"/>
      </geometry>
    </collision>
  </link>
  <gazebo reference="drawer_oven_center_bottom_link">
    <material value="Ias/KitchenLightGray"/>
  </gazebo>
  <joint name="drawer_oven_center_handle_drawer_oven_center_joint" type="fixed">
    <origin rpy="0 0 0" xyz="0.0625 0.0 0.0175"/>
    <parent link="drawer_oven_center_link"/>
    <child link="handle_drawer_oven_center_link"/>
  </joint>
  <link name="handle_drawer_oven_center_link">
    <inertial>
      <mass value="0.1"/>
      <inertia ixx="0.00212604166667" ixy="0" ixz="0" iyy="0.00212604166667" iyz="0" izz="1.66666666667e-06"/>
    </inertial>
    <visual>
      <origin rpy="0 0 0" xyz="0 0 0"/>
      <geometry>
        <box size="0.01 0.505 0.01"/>
      </geometry>
      <material name="KitchenDarkGray"/>
    </visual>
    <collision>
      <origin rpy="0 0 0" xyz="0 0 0"/>
      <geometry>
        <box size="0.015 0.51 0.015"/>
      </geometry>
    </collision>
  </link>
  <gazebo reference="handle_drawer_oven_center_link">
    <material value="Ias/KitchenDarkGray"/>
  </gazebo>
  <joint name="oven_block_drawer_oven_oven_fixed_joint" type="fixed">
    <origin rpy="0 0 0" xyz="0.57 0.6 1.17"/>
    <parent link="oven_block_link"/>
    <child link="drawer_oven_oven_fixed_link"/>
  </joint>
  <link name="drawer_oven_oven_fixed_link">
    <inertial>
      <mass value="1"/>
      <inertia ixx="4e-07" ixy="0" ixz="0" iyy="4e-07" iyz="0" izz="4e-07"/>
    </inertial>
  </link>
  <joint name="oven_block_drawer_oven_oven_joint" type="prismatic">
    <origin rpy="0 0 0" xyz="0 0 0"/>
    <parent link="drawer_oven_oven_fixed_link"/>
    <child link="drawer_oven_oven_link"/>
    <axis xyz="0.999 0 0.044"/>
    <!-- the axis needs to be slightly tilted so that the drawers would stay closed in Gazebo-->
    <limit effort="300" lower="0" upper="0.48" velocity="10"/>
  </joint>
  <gazebo reference="oven_block_drawer_oven_oven_joint">
    <erp>0.8</erp>
    <cfm>0.0000001</cfm>
    <stopKp>1000000.0</stopKp>
    <stopKd>1.0</stopKd>
  </gazebo>
  <link name="drawer_oven_oven_link">
    <inertial>
      <mass value="1.0"/>
      <inertia ixx="0.0620333333333" ixy="0" ixz="0" iyy="0.0300333333333" iyz="0" izz="0.0320666666667"/>
    </inertial>
    <visual>
      <origin rpy="0 0 0" xyz="0 0 0"/>
      <geometry>
        <box size="0.02 0.595 0.615"/>
      </geometry>
      <material name="KitchenLightGray"/>
    </visual>
    <collision>
      <origin rpy="0 0 0" xyz="0 0 0"/>
      <geometry>
        <box size="0.02 0.6 0.62"/>
      </geometry>
    </collision>
  </link>
  <gazebo reference="drawer_oven_oven_link">
    <material value="Ias/KitchenLightGray"/>
  </gazebo>
  <joint name="drawer_oven_oven_left_fixed_joint" type="fixed">
    <origin rpy="0 0 0" xyz="0 0 0"/>
    <parent link="drawer_oven_oven_link"/>
    <child link="drawer_oven_oven_left_link"/>
  </joint>
  <link name="drawer_oven_oven_left_link">
    <inertial>
      <mass value="1.0"/>
      <inertia ixx="0.0271083333333" ixy="0" ixz="0" iyy="0.0243333333333" iyz="0" izz="0.051375"/>
    </inertial>
    <visual>
      <origin rpy="0 0 0" xyz="-0.27 -0.24 0"/>
      <geometry>
        <box size="0.54 0.02 0.57"/>
      </geometry>
      <material name="KitchenDarkGray"/>
    </visual>
    <collision>
      <origin rpy="0 0 0" xyz="-0.27 -0.24 0"/>
      <geometry>
        <box size="0.54 0.02 0.57"/>
      </geometry>
    </collision>
  </link>
  <gazebo reference="drawer_oven_oven_left_link">
    <material value="Ias/KitchenLightGray"/>
  </gazebo>
  <joint name="drawer_oven_oven_right_fixed_joint" type="fixed">
    <origin rpy="0 0 0" xyz="0 0 0"/>
    <parent link="drawer_oven_oven_link"/>
    <child link="drawer_oven_oven_right_link"/>
  </joint>
  <link name="drawer_oven_oven_right_link">
    <inertial>
      <mass value="1.0"/>
      <inertia ixx="0.0271083333333" ixy="0" ixz="0" iyy="0.0243333333333" iyz="0" izz="0.051375"/>
    </inertial>
    <visual>
      <origin rpy="0 0 0" xyz="-0.27 0.24 0"/>
      <geometry>
        <box size="0.54 0.02 0.57"/>
      </geometry>
      <material name="KitchenDarkGray"/>
    </visual>
    <collision>
      <origin rpy="0 0 0" xyz="-0.27 0.24 0"/>
      <geometry>
        <box size="0.54 0.02 0.57"/>
      </geometry>
    </collision>
  </link>
  <gazebo reference="drawer_oven_oven_right_link">
    <material value="Ias/KitchenLightGray"/>
  </gazebo>
  <joint name="drawer_oven_oven_back_fixed_joint" type="fixed">
    <origin rpy="0 0 0" xyz="0 0 0"/>
    <parent link="drawer_oven_oven_link"/>
    <child link="drawer_oven_oven_back_link"/>
  </joint>
  <link name="drawer_oven_oven_back_link">
    <inertial>
      <mass value="1.0"/>
      <inertia ixx="0.0479083333333" ixy="0" ixz="0" iyy="0.0208666666667" iyz="0" izz="0.0271083333333"/>
    </inertial>
    <visual>
      <origin rpy="0 0 0" xyz="-0.54 0 0"/>
      <geometry>
        <box size="0.02 0.5 0.57"/>
      </geometry>
      <material name="KitchenDarkGray"/>
    </visual>
    <collision>
      <origin rpy="0 0 0" xyz="-0.54 0 0"/>
      <geometry>
        <box size="0.02 0.5 0.57"/>
      </geometry>
    </collision>
  </link>
  <gazebo reference="drawer_oven_oven_back_link">
    <material value="Ias/KitchenLightGray"/>
  </gazebo>
  <joint name="drawer_oven_oven_bottom_fixed_joint" type="fixed">
    <origin rpy="0 0 0" xyz="0 0 0"/>
    <parent link="drawer_oven_oven_link"/>
    <child link="drawer_oven_oven_bottom_link"/>
  </joint>
  <link name="drawer_oven_oven_bottom_link">
    <inertial>
      <mass value="1.0"/>
      <inertia ixx="0.0208666666667" ixy="0" ixz="0" iyy="0.0451333333333" iyz="0" izz="0.0243333333333"/>
    </inertial>
    <visual>
      <origin rpy="0 0 0" xyz="-0.27 0 -0.275"/>
      <geometry>
        <box size="0.54 0.5 0.02"/>
      </geometry>
      <material name="KitchenDarkGray"/>
    </visual>
    <collision>
      <origin rpy="0 0 0" xyz="-0.27 0 -0.275"/>
      <geometry>
        <box size="0.54 0.5 0.02"/>
      </geometry>
    </collision>
  </link>
  <gazebo reference="drawer_oven_oven_bottom_link">
    <material value="Ias/KitchenLightGray"/>
  </gazebo>
  <joint name="drawer_oven_oven_handle_drawer_oven_oven_joint" type="fixed">
    <origin rpy="0 0 0" xyz="0.0625 0.0 0.2575"/>
    <parent link="drawer_oven_oven_link"/>
    <child link="handle_drawer_oven_oven_link"/>
  </joint>
  <link name="handle_drawer_oven_oven_link">
    <inertial>
      <mass value="0.1"/>
      <inertia ixx="0.00212604166667" ixy="0" ixz="0" iyy="0.00212604166667" iyz="0" izz="1.66666666667e-06"/>
    </inertial>
    <visual>
      <origin rpy="0 0 0" xyz="0 0 0"/>
      <geometry>
        <box size="0.01 0.505 0.01"/>
      </geometry>
      <material name="KitchenDarkGray"/>
    </visual>
    <collision>
      <origin rpy="0 0 0" xyz="0 0 0"/>
      <geometry>
        <box size="0.015 0.51 0.015"/>
      </geometry>
    </collision>
  </link>
  <gazebo reference="handle_drawer_oven_oven_link">
    <material value="Ias/KitchenDarkGray"/>
  </gazebo>
  <joint name="oven_block_drawer_oven_right_fixed_joint" type="fixed">
    <origin rpy="0 0 0" xyz="0.29 1.05 0.815"/>
    <parent link="oven_block_link"/>
    <child link="drawer_oven_right_fixed_link"/>
  </joint>
  <link name="drawer_oven_right_fixed_link">
    <inertial>
      <mass value="0.1"/>
      <inertia ixx="4e-08" ixy="0" ixz="0" iyy="4e-08" iyz="0" izz="4e-08"/>
    </inertial>
  </link>
  <joint name="oven_block_drawer_oven_right_joint" type="prismatic">
    <origin rpy="0 0 0" xyz="0 0 0"/>
    <parent link="drawer_oven_right_fixed_link"/>
    <child link="drawer_oven_right_link"/>
    <axis xyz="0.999 0 0.044"/>
    <!-- the axis needs to be slightly tilted so that the drawers would stay closed in Gazebo-->
    <limit effort="300" lower="0" upper="0.48" velocity="10"/>
  </joint>
  <link name="drawer_oven_right_link">
    <inertial>
      <mass value="1.0"/>
      <inertia ixx="0.153554166667" ixy="0" ixz="0" iyy="0.0348041666667" iyz="0" izz="0.173854166667"/>
    </inertial>
    <visual>
      <origin rpy="0 0 0" xyz="0 0 0"/>
      <geometry>
        <box size="0.575 0.295 1.325"/>
      </geometry>
      <material name="KitchenLightGray"/>
    </visual>
    <collision>
      <origin rpy="0 0 0" xyz="0 0 0"/>
      <geometry>
        <box size="0.58 0.3 1.33"/>
      </geometry>
    </collision>
  </link>
  <gazebo reference="drawer_oven_right_link">
    <material value="Ias/KitchenLightGray"/>
  </gazebo>
  <joint name="drawer_oven_right_handle_drawer_oven_right_joint" type="fixed">
    <origin rpy="0 0 0" xyz="0.3525 0.0 0.0"/>
    <parent link="drawer_oven_right_link"/>
    <child link="handle_drawer_oven_right_link"/>
  </joint>
  <link name="handle_drawer_oven_right_link">
    <inertial>
      <mass value="0.1"/>
      <inertia ixx="0.0127110416667" ixy="0" ixz="0" iyy="1.66666666667e-06" iyz="0" izz="0.0127110416667"/>
    </inertial>
    <visual>
      <origin rpy="0 0 0" xyz="0 0 0"/>
      <geometry>
        <box size="0.01 0.01 1.235"/>
      </geometry>
      <material name="KitchenDarkGray"/>
    </visual>
    <collision>
      <origin rpy="0 0 0" xyz="0 0 0"/>
      <geometry>
        <box size="0.015 0.015 1.24"/>
      </geometry>
    </collision>
  </link>
  <gazebo reference="handle_drawer_oven_right_link">
    <material value="Ias/KitchenDarkGray"/>
  </gazebo>
  <joint name="oven_block_skirting_oven_joint" type="fixed">
    <origin rpy="0 0 0" xyz="0.255 0.6 0.075"/>
    <parent link="oven_block_link"/>
    <child link="skirting_oven_link"/>
  </joint>
  <link name="skirting_oven_link">
    <inertial>
      <mass value="10"/>
      <inertia ixx="1.21875" ixy="0" ixz="0" iyy="1.41675" iyz="0" izz="0.2355"/>
    </inertial>
    <visual>
      <origin rpy="0 0 0" xyz="0 0 0"/>
      <geometry>
        <box size="0.51 1.2 0.15"/>
      </geometry>
      <material name="KitchenDarkGray"/>
    </visual>
    <collision>
      <origin rpy="0 0 0" xyz="0 0 0"/>
      <geometry>
        <box size="0.51 1.2 0.15"/>
      </geometry>
    </collision>
  </link>
  <gazebo reference="skirting_oven_link">
    <material value="Ias/KitchenDarkGray"/>
  </gazebo>
  <joint name="oven_block_joint" type="fixed">
    <origin rpy="0 0 0" xyz="0 0 0"/>
    <parent link="kitchen_link"/>
    <child link="oven_block_link"/>
  </joint>
  <link name="oven_block_link">
    <inertial>
      <mass value="0"/>
      <inertia ixx="0.0" ixy="0" ixz="0" iyy="0.0" iyz="0" izz="0.0"/>
    </inertial>
    <visual>
      <origin rpy="0 0 0" xyz="0 0 0"/>
      <geometry>
        <box size=".1 .1 .1"/>
      </geometry>
    </visual>
  </link>
  <joint name="sink_block_sink_joint" type="fixed">
    <origin rpy="0 0 0" xyz="0 0 0"/>
    <parent link="sink_block_link"/>
    <child link="sink_link"/>
  </joint>
  <link name="sink_link">
    <inertial>
      <mass value="1.0"/>
      <inertia ixx="0.0616354166667" ixy="0" ixz="0" iyy="0.0824666666667" iyz="0" izz="0.0208354166667"/>
    </inertial>
    <visual>
      <origin rpy="0 0 0" xyz=".295 1.485 .8525"/>
      <geometry>
        <box size=".50 .86 0.005"/>
      </geometry>
      <material name="KitchenSink"/>
    </visual>
    <collision>
      <origin rpy="0 0 0" xyz=".295 1.485 .8525"/>
      <geometry>
        <box size=".50 .86 0.005"/>
      </geometry>
    </collision>
  </link>
  <gazebo reference="sink_link">
    <material value="Ias/KitchenSink"/>
  </gazebo>
  <joint name="sink_block_counter_side_sink_left_joint" type="fixed">
    <origin rpy="0 0 0" xyz="0.29 0.015 0.41"/>
    <parent link="sink_block_link"/>
    <child link="counter_side_sink_left_link"/>
  </joint>
  <link name="counter_side_sink_left_link">
    <inertial>
      <mass value="2.0"/>
      <inertia ixx="0.112216666667" ixy="0" ixz="0" iyy="0.0562166666667" iyz="0" izz="0.168133333333"/>
    </inertial>
    <visual>
      <origin rpy="0 0 0" xyz="0 0 0"/>
      <geometry>
        <box size="0.58 0.03 0.82"/>
      </geometry>
      <material name="KitchenDarkGray"/>
    </visual>
    <collision>
      <origin rpy="0 0 0" xyz="0 0 0"/>
      <geometry>
        <box size="0.58 0.03 0.82"/>
      </geometry>
    </collision>
  </link>
  <gazebo reference="counter_side_sink_left_link">
    <material value="Ias/KitchenDarkGray"/>
  </gazebo>
  <joint name="sink_block_counter_side_sink_right_joint" type="fixed">
    <origin rpy="0 0 0" xyz="0.29 2.045 0.41"/>
    <parent link="sink_block_link"/>
    <child link="counter_side_sink_right_link"/>
  </joint>
  <link name="counter_side_sink_right_link">
    <inertial>
      <mass value="2.0"/>
      <inertia ixx="0.112216666667" ixy="0" ixz="0" iyy="0.0562166666667" iyz="0" izz="0.168133333333"/>
    </inertial>
    <visual>
      <origin rpy="0 0 0" xyz="0 0 0"/>
      <geometry>
        <box size="0.58 0.03 0.82"/>
      </geometry>
      <material name="KitchenDarkGray"/>
    </visual>
    <collision>
      <origin rpy="0 0 0" xyz="0 0 0"/>
      <geometry>
        <box size="0.58 0.03 0.82"/>
      </geometry>
    </collision>
  </link>
  <gazebo reference="counter_side_sink_right_link">
    <material value="Ias/KitchenDarkGray"/>
  </gazebo>
  <joint name="sink_block_counter_top_sink_joint" type="fixed">
    <origin rpy="0 0 0" xyz="0.29 1.03 0.835"/>
    <parent link="sink_block_link"/>
    <child link="counter_top_sink_link"/>
  </joint>
  <link name="counter_top_sink_link">
    <inertial>
      <mass value="2.0"/>
      <inertia ixx="0.707416666667" ixy="0" ixz="0" iyy="0.763333333333" iyz="0" izz="0.0562166666667"/>
    </inertial>
    <visual>
      <origin rpy="0 0 0" xyz="0 0 0"/>
      <geometry>
        <box size="0.58 2.06 0.03"/>
      </geometry>
      <material name="KitchenDarkGray"/>
    </visual>
    <collision>
      <origin rpy="0 0 0" xyz="0 0 0"/>
      <geometry>
        <box size="0.58 2.06 0.03"/>
      </geometry>
    </collision>
  </link>
  <gazebo reference="counter_top_sink_link">
    <kp>100000</kp>
    <kd>1000000</kd>
    <mu1>50000</mu1>
    <mu2>50000</mu2>
    <material value="Ias/KitchenDarkGray"/>
  </gazebo>
  <joint name="sink_block_white_counter_top_sink_joint" type="fixed">
    <origin rpy="0 0 0" xyz="0.29 1.03 0.851"/>
    <parent link="sink_block_link"/>
    <child link="white_counter_top_sink_link"/>
  </joint>
  <link name="white_counter_top_sink_link">
    <inertial>
      <mass value="2.0"/>
      <inertia ixx="0.707267333333" ixy="0" ixz="0" iyy="0.763333333333" iyz="0" izz="0.0560673333333"/>
    </inertial>
    <visual>
      <origin rpy="0 0 0" xyz="0 0 0"/>
      <geometry>
        <box size="0.58 2.06 0.002"/>
      </geometry>
      <material name="KitchenWhite"/>
    </visual>
    <collision>
      <origin rpy="0 0 0" xyz="0 0 0"/>
      <geometry>
        <box size="0.58 2.06 0.002"/>
      </geometry>
    </collision>
  </link>
  <gazebo reference="white_counter_top_sink_link">
    <kp>100000</kp>
    <kd>1000000</kd>
    <mu1>50000</mu1>
    <mu2>50000</mu2>
    <material value="Ias/KitchenWhite"/>
  </gazebo>
  <joint name="sink_block_drawer_sink_col1_bottom_fixed_joint" type="fixed">
    <origin rpy="0 0 0" xyz="0.57 0.43 0.245"/>
    <parent link="sink_block_link"/>
    <child link="drawer_sink_col1_bottom_fixed_link"/>
  </joint>
  <link name="drawer_sink_col1_bottom_fixed_link">
    <inertial>
      <mass value="1"/>
      <inertia ixx="4e-07" ixy="0" ixz="0" iyy="4e-07" iyz="0" izz="4e-07"/>
    </inertial>
  </link>
  <joint name="sink_block_drawer_sink_col1_bottom_joint" type="prismatic">
    <origin rpy="0 0 0" xyz="0 0 0"/>
    <parent link="drawer_sink_col1_bottom_fixed_link"/>
    <child link="drawer_sink_col1_bottom_link"/>
    <axis xyz="0.999 0 0.044"/>
    <!-- the axis needs to be slightly tilted so that the drawers would stay closed in Gazebo-->
    <limit effort="300" lower="0" upper="0.48" velocity="10"/>
  </joint>
  <gazebo reference="sink_block_drawer_sink_col1_bottom_joint">
    <erp>0.8</erp>
    <cfm>0.0000001</cfm>
    <stopKp>1000000.0</stopKp>
    <stopKd>1.0</stopKd>
  </gazebo>
  <link name="drawer_sink_col1_bottom_link">
    <inertial>
      <mass value="1.0"/>
      <inertia ixx="0.0603416666667" ixy="0" ixz="0" iyy="0.0533666666667" iyz="0" izz="0.00704166666667"/>
    </inertial>
    <visual>
      <origin rpy="0 0 0" xyz="0 0 0"/>
      <geometry>
        <box size="0.02 0.795 0.285"/>
      </geometry>
      <material name="KitchenLightGray"/>
    </visual>
    <collision>
      <origin rpy="0 0 0" xyz="0 0 0"/>
      <geometry>
        <box size="0.02 0.8 0.29"/>
      </geometry>
    </collision>
  </link>
  <gazebo reference="drawer_sink_col1_bottom_link">
    <material value="Ias/KitchenLightGray"/>
  </gazebo>
  <joint name="drawer_sink_col1_bottom_left_fixed_joint" type="fixed">
    <origin rpy="0 0 0" xyz="0 0 0"/>
    <parent link="drawer_sink_col1_bottom_link"/>
    <child link="drawer_sink_col1_bottom_left_link"/>
  </joint>
  <link name="drawer_sink_col1_bottom_left_link">
    <inertial>
      <mass value="1.0"/>
      <inertia ixx="0.00483333333333" ixy="0" ixz="0" iyy="0.0243333333333" iyz="0" izz="0.0291"/>
    </inertial>
    <visual>
      <origin rpy="0 0 0" xyz="-0.27 -0.34 0"/>
      <geometry>
        <box size="0.54 0.02 0.24"/>
      </geometry>
      <material name="KitchenDarkGray"/>
    </visual>
    <collision>
      <origin rpy="0 0 0" xyz="-0.27 -0.34 0"/>
      <geometry>
        <box size="0.54 0.02 0.24"/>
      </geometry>
    </collision>
  </link>
  <gazebo reference="drawer_sink_col1_bottom_left_link">
    <material value="Ias/KitchenLightGray"/>
  </gazebo>
  <joint name="drawer_sink_col1_bottom_right_fixed_joint" type="fixed">
    <origin rpy="0 0 0" xyz="0 0 0"/>
    <parent link="drawer_sink_col1_bottom_link"/>
    <child link="drawer_sink_col1_bottom_right_link"/>
  </joint>
  <link name="drawer_sink_col1_bottom_right_link">
    <inertial>
      <mass value="1.0"/>
      <inertia ixx="0.00483333333333" ixy="0" ixz="0" iyy="0.0243333333333" iyz="0" izz="0.0291"/>
    </inertial>
    <visual>
      <origin rpy="0 0 0" xyz="-0.27 0.34 0"/>
      <geometry>
        <box size="0.54 0.02 0.24"/>
      </geometry>
      <material name="KitchenDarkGray"/>
    </visual>
    <collision>
      <origin rpy="0 0 0" xyz="-0.27 0.34 0"/>
      <geometry>
        <box size="0.54 0.02 0.24"/>
      </geometry>
    </collision>
  </link>
  <gazebo reference="drawer_sink_col1_bottom_right_link">
    <material value="Ias/KitchenLightGray"/>
  </gazebo>
  <joint name="drawer_sink_col1_bottom_back_fixed_joint" type="fixed">
    <origin rpy="0 0 0" xyz="0 0 0"/>
    <parent link="drawer_sink_col1_bottom_link"/>
    <child link="drawer_sink_col1_bottom_back_link"/>
  </joint>
  <link name="drawer_sink_col1_bottom_back_link">
    <inertial>
      <mass value="1.0"/>
      <inertia ixx="0.0456333333333" ixy="0" ixz="0" iyy="0.0408666666667" iyz="0" izz="0.00483333333333"/>
    </inertial>
    <visual>
      <origin rpy="0 0 0" xyz="-0.54 0 0"/>
      <geometry>
        <box size="0.02 0.7 0.24"/>
      </geometry>
      <material name="KitchenDarkGray"/>
    </visual>
    <collision>
      <origin rpy="0 0 0" xyz="-0.54 0 0"/>
      <geometry>
        <box size="0.02 0.7 0.24"/>
      </geometry>
    </collision>
  </link>
  <gazebo reference="drawer_sink_col1_bottom_back_link">
    <material value="Ias/KitchenLightGray"/>
  </gazebo>
  <joint name="drawer_sink_col1_bottom_bottom_fixed_joint" type="fixed">
    <origin rpy="0 0 0" xyz="0 0 0"/>
    <parent link="drawer_sink_col1_bottom_link"/>
    <child link="drawer_sink_col1_bottom_bottom_link"/>
  </joint>
  <link name="drawer_sink_col1_bottom_bottom_link">
    <inertial>
      <mass value="1.0"/>
      <inertia ixx="0.0408666666667" ixy="0" ixz="0" iyy="0.0651333333333" iyz="0" izz="0.0243333333333"/>
    </inertial>
    <visual>
      <origin rpy="0 0 0" xyz="-0.27 0 -0.11"/>
      <geometry>
        <box size="0.54 0.7 0.02"/>
      </geometry>
      <material name="KitchenDarkGray"/>
    </visual>
    <collision>
      <origin rpy="0 0 0" xyz="-0.27 0 -0.11"/>
      <geometry>
        <box size="0.54 0.7 0.02"/>
      </geometry>
    </collision>
  </link>
  <gazebo reference="drawer_sink_col1_bottom_bottom_link">
    <material value="Ias/KitchenLightGray"/>
  </gazebo>
  <joint name="drawer_sink_col1_bottom_handle_drawer_sink_col1_bottom_joint" type="fixed">
    <origin rpy="0 0 0" xyz="0.0625 0.0 0.0925"/>
    <parent link="drawer_sink_col1_bottom_link"/>
    <child link="handle_drawer_sink_col1_bottom_link"/>
  </joint>
  <link name="handle_drawer_sink_col1_bottom_link">
    <inertial>
      <mass value="0.1"/>
      <inertia ixx="0.00414270833333" ixy="0" ixz="0" iyy="0.00414270833333" iyz="0" izz="1.66666666667e-06"/>
    </inertial>
    <visual>
      <origin rpy="0 0 0" xyz="0 0 0"/>
      <geometry>
        <box size="0.01 0.705 0.01"/>
      </geometry>
      <material name="KitchenDarkGray"/>
    </visual>
    <collision>
      <origin rpy="0 0 0" xyz="0 0 0"/>
      <geometry>
        <box size="0.015 0.71 0.015"/>
      </geometry>
    </collision>
  </link>
  <gazebo reference="handle_drawer_sink_col1_bottom_link">
    <material value="Ias/KitchenDarkGray"/>
  </gazebo>
  <joint name="sink_block_drawer_sink_col1_center_fixed_joint" type="fixed">
    <origin rpy="0 0 0" xyz="0.57 0.43 0.535"/>
    <parent link="sink_block_link"/>
    <child link="drawer_sink_col1_center_fixed_link"/>
  </joint>
  <link name="drawer_sink_col1_center_fixed_link">
    <inertial>
      <mass value="1"/>
      <inertia ixx="4e-07" ixy="0" ixz="0" iyy="4e-07" iyz="0" izz="4e-07"/>
    </inertial>
  </link>
  <joint name="sink_block_drawer_sink_col1_center_joint" type="prismatic">
    <origin rpy="0 0 0" xyz="0 0 0"/>
    <parent link="drawer_sink_col1_center_fixed_link"/>
    <child link="drawer_sink_col1_center_link"/>
    <axis xyz="0.999 0 0.044"/>
    <!-- the axis needs to be slightly tilted so that the drawers would stay closed in Gazebo-->
    <limit effort="300" lower="0" upper="0.48" velocity="10"/>
  </joint>
  <gazebo reference="sink_block_drawer_sink_col1_center_joint">
    <erp>0.8</erp>
    <cfm>0.0000001</cfm>
    <stopKp>1000000.0</stopKp>
    <stopKd>1.0</stopKd>
  </gazebo>
  <link name="drawer_sink_col1_center_link">
    <inertial>
      <mass value="1.0"/>
      <inertia ixx="0.0603416666667" ixy="0" ixz="0" iyy="0.0533666666667" iyz="0" izz="0.00704166666667"/>
    </inertial>
    <visual>
      <origin rpy="0 0 0" xyz="0 0 0"/>
      <geometry>
        <box size="0.02 0.795 0.285"/>
      </geometry>
      <material name="KitchenLightGray"/>
    </visual>
    <collision>
      <origin rpy="0 0 0" xyz="0 0 0"/>
      <geometry>
        <box size="0.02 0.8 0.29"/>
      </geometry>
    </collision>
  </link>
  <gazebo reference="drawer_sink_col1_center_link">
    <material value="Ias/KitchenLightGray"/>
  </gazebo>
  <joint name="drawer_sink_col1_center_left_fixed_joint" type="fixed">
    <origin rpy="0 0 0" xyz="0 0 0"/>
    <parent link="drawer_sink_col1_center_link"/>
    <child link="drawer_sink_col1_center_left_link"/>
  </joint>
  <link name="drawer_sink_col1_center_left_link">
    <inertial>
      <mass value="1.0"/>
      <inertia ixx="0.00483333333333" ixy="0" ixz="0" iyy="0.0243333333333" iyz="0" izz="0.0291"/>
    </inertial>
    <visual>
      <origin rpy="0 0 0" xyz="-0.27 -0.34 0"/>
      <geometry>
        <box size="0.54 0.02 0.24"/>
      </geometry>
      <material name="KitchenDarkGray"/>
    </visual>
    <collision>
      <origin rpy="0 0 0" xyz="-0.27 -0.34 0"/>
      <geometry>
        <box size="0.54 0.02 0.24"/>
      </geometry>
    </collision>
  </link>
  <gazebo reference="drawer_sink_col1_center_left_link">
    <material value="Ias/KitchenLightGray"/>
  </gazebo>
  <joint name="drawer_sink_col1_center_right_fixed_joint" type="fixed">
    <origin rpy="0 0 0" xyz="0 0 0"/>
    <parent link="drawer_sink_col1_center_link"/>
    <child link="drawer_sink_col1_center_right_link"/>
  </joint>
  <link name="drawer_sink_col1_center_right_link">
    <inertial>
      <mass value="1.0"/>
      <inertia ixx="0.00483333333333" ixy="0" ixz="0" iyy="0.0243333333333" iyz="0" izz="0.0291"/>
    </inertial>
    <visual>
      <origin rpy="0 0 0" xyz="-0.27 0.34 0"/>
      <geometry>
        <box size="0.54 0.02 0.24"/>
      </geometry>
      <material name="KitchenDarkGray"/>
    </visual>
    <collision>
      <origin rpy="0 0 0" xyz="-0.27 0.34 0"/>
      <geometry>
        <box size="0.54 0.02 0.24"/>
      </geometry>
    </collision>
  </link>
  <gazebo reference="drawer_sink_col1_center_right_link">
    <material value="Ias/KitchenLightGray"/>
  </gazebo>
  <joint name="drawer_sink_col1_center_back_fixed_joint" type="fixed">
    <origin rpy="0 0 0" xyz="0 0 0"/>
    <parent link="drawer_sink_col1_center_link"/>
    <child link="drawer_sink_col1_center_back_link"/>
  </joint>
  <link name="drawer_sink_col1_center_back_link">
    <inertial>
      <mass value="1.0"/>
      <inertia ixx="0.0456333333333" ixy="0" ixz="0" iyy="0.0408666666667" iyz="0" izz="0.00483333333333"/>
    </inertial>
    <visual>
      <origin rpy="0 0 0" xyz="-0.54 0 0"/>
      <geometry>
        <box size="0.02 0.7 0.24"/>
      </geometry>
      <material name="KitchenDarkGray"/>
    </visual>
    <collision>
      <origin rpy="0 0 0" xyz="-0.54 0 0"/>
      <geometry>
        <box size="0.02 0.7 0.24"/>
      </geometry>
    </collision>
  </link>
  <gazebo reference="drawer_sink_col1_center_back_link">
    <material value="Ias/KitchenLightGray"/>
  </gazebo>
  <joint name="drawer_sink_col1_center_bottom_fixed_joint" type="fixed">
    <origin rpy="0 0 0" xyz="0 0 0"/>
    <parent link="drawer_sink_col1_center_link"/>
    <child link="drawer_sink_col1_center_bottom_link"/>
  </joint>
  <link name="drawer_sink_col1_center_bottom_link">
    <inertial>
      <mass value="1.0"/>
      <inertia ixx="0.0408666666667" ixy="0" ixz="0" iyy="0.0651333333333" iyz="0" izz="0.0243333333333"/>
    </inertial>
    <visual>
      <origin rpy="0 0 0" xyz="-0.27 0 -0.11"/>
      <geometry>
        <box size="0.54 0.7 0.02"/>
      </geometry>
      <material name="KitchenDarkGray"/>
    </visual>
    <collision>
      <origin rpy="0 0 0" xyz="-0.27 0 -0.11"/>
      <geometry>
        <box size="0.54 0.7 0.02"/>
      </geometry>
    </collision>
  </link>
  <gazebo reference="drawer_sink_col1_center_bottom_link">
    <material value="Ias/KitchenLightGray"/>
  </gazebo>
  <joint name="drawer_sink_col1_center_handle_drawer_sink_col1_center_joint" type="fixed">
    <origin rpy="0 0 0" xyz="0.0625 0.0 0.0925"/>
    <parent link="drawer_sink_col1_center_link"/>
    <child link="handle_drawer_sink_col1_center_link"/>
  </joint>
  <link name="handle_drawer_sink_col1_center_link">
    <inertial>
      <mass value="0.1"/>
      <inertia ixx="0.00414270833333" ixy="0" ixz="0" iyy="0.00414270833333" iyz="0" izz="1.66666666667e-06"/>
    </inertial>
    <visual>
      <origin rpy="0 0 0" xyz="0 0 0"/>
      <geometry>
        <box size="0.01 0.705 0.01"/>
      </geometry>
      <material name="KitchenDarkGray"/>
    </visual>
    <collision>
      <origin rpy="0 0 0" xyz="0 0 0"/>
      <geometry>
        <box size="0.015 0.71 0.015"/>
      </geometry>
    </collision>
  </link>
  <gazebo reference="handle_drawer_sink_col1_center_link">
    <material value="Ias/KitchenDarkGray"/>
  </gazebo>
  <joint name="sink_block_drawer_sink_col1_top_fixed_joint" type="fixed">
    <origin rpy="0 0 0" xyz="0.57 0.43 0.75"/>
    <parent link="sink_block_link"/>
    <child link="drawer_sink_col1_top_fixed_link"/>
  </joint>
  <link name="drawer_sink_col1_top_fixed_link">
    <inertial>
      <mass value="1"/>
      <inertia ixx="4e-07" ixy="0" ixz="0" iyy="4e-07" iyz="0" izz="4e-07"/>
    </inertial>
  </link>
  <joint name="sink_block_drawer_sink_col1_top_joint" type="prismatic">
    <origin rpy="0 0 0" xyz="0 0 0"/>
    <parent link="drawer_sink_col1_top_fixed_link"/>
    <child link="drawer_sink_col1_top_link"/>
    <axis xyz="0.999 0 0.044"/>
    <!-- the axis needs to be slightly tilted so that the drawers would stay closed in Gazebo-->
    <limit effort="300" lower="0" upper="0.48" velocity="10"/>
  </joint>
  <gazebo reference="sink_block_drawer_sink_col1_top_joint">
    <erp>0.8</erp>
    <cfm>0.0000001</cfm>
    <stopKp>1000000.0</stopKp>
    <stopKd>1.0</stopKd>
  </gazebo>
  <link name="drawer_sink_col1_top_link">
    <inertial>
      <mass value="1.0"/>
      <inertia ixx="0.0549666666667" ixy="0" ixz="0" iyy="0.0533666666667" iyz="0" izz="0.00166666666667"/>
    </inertial>
    <visual>
      <origin rpy="0 0 0" xyz="0 0 0"/>
      <geometry>
        <box size="0.02 0.795 0.135"/>
      </geometry>
      <material name="KitchenLightGray"/>
    </visual>
    <collision>
      <origin rpy="0 0 0" xyz="0 0 0"/>
      <geometry>
        <box size="0.02 0.8 0.14"/>
      </geometry>
    </collision>
  </link>
  <gazebo reference="drawer_sink_col1_top_link">
    <material value="Ias/KitchenLightGray"/>
  </gazebo>
  <joint name="drawer_sink_col1_top_left_fixed_joint" type="fixed">
    <origin rpy="0 0 0" xyz="0 0 0"/>
    <parent link="drawer_sink_col1_top_link"/>
    <child link="drawer_sink_col1_top_left_link"/>
  </joint>
  <link name="drawer_sink_col1_top_left_link">
    <inertial>
      <mass value="1.0"/>
      <inertia ixx="0.000708333333333" ixy="0" ixz="0" iyy="0.0243333333333" iyz="0" izz="0.024975"/>
    </inertial>
    <visual>
      <origin rpy="0 0 0" xyz="-0.27 -0.34 0"/>
      <geometry>
        <box size="0.54 0.02 0.09"/>
      </geometry>
      <material name="KitchenDarkGray"/>
    </visual>
    <collision>
      <origin rpy="0 0 0" xyz="-0.27 -0.34 0"/>
      <geometry>
        <box size="0.54 0.02 0.09"/>
      </geometry>
    </collision>
  </link>
  <gazebo reference="drawer_sink_col1_top_left_link">
    <material value="Ias/KitchenLightGray"/>
  </gazebo>
  <joint name="drawer_sink_col1_top_right_fixed_joint" type="fixed">
    <origin rpy="0 0 0" xyz="0 0 0"/>
    <parent link="drawer_sink_col1_top_link"/>
    <child link="drawer_sink_col1_top_right_link"/>
  </joint>
  <link name="drawer_sink_col1_top_right_link">
    <inertial>
      <mass value="1.0"/>
      <inertia ixx="0.000708333333333" ixy="0" ixz="0" iyy="0.0243333333333" iyz="0" izz="0.024975"/>
    </inertial>
    <visual>
      <origin rpy="0 0 0" xyz="-0.27 0.34 0"/>
      <geometry>
        <box size="0.54 0.02 0.09"/>
      </geometry>
      <material name="KitchenDarkGray"/>
    </visual>
    <collision>
      <origin rpy="0 0 0" xyz="-0.27 0.34 0"/>
      <geometry>
        <box size="0.54 0.02 0.09"/>
      </geometry>
    </collision>
  </link>
  <gazebo reference="drawer_sink_col1_top_right_link">
    <material value="Ias/KitchenLightGray"/>
  </gazebo>
  <joint name="drawer_sink_col1_top_back_fixed_joint" type="fixed">
    <origin rpy="0 0 0" xyz="0 0 0"/>
    <parent link="drawer_sink_col1_top_link"/>
    <child link="drawer_sink_col1_top_back_link"/>
  </joint>
  <link name="drawer_sink_col1_top_back_link">
    <inertial>
      <mass value="1.0"/>
      <inertia ixx="0.0415083333333" ixy="0" ixz="0" iyy="0.0408666666667" iyz="0" izz="0.000708333333333"/>
    </inertial>
    <visual>
      <origin rpy="0 0 0" xyz="-0.54 0 0"/>
      <geometry>
        <box size="0.02 0.7 0.09"/>
      </geometry>
      <material name="KitchenDarkGray"/>
    </visual>
    <collision>
      <origin rpy="0 0 0" xyz="-0.54 0 0"/>
      <geometry>
        <box size="0.02 0.7 0.09"/>
      </geometry>
    </collision>
  </link>
  <gazebo reference="drawer_sink_col1_top_back_link">
    <material value="Ias/KitchenLightGray"/>
  </gazebo>
  <joint name="drawer_sink_col1_top_bottom_fixed_joint" type="fixed">
    <origin rpy="0 0 0" xyz="0 0 0"/>
    <parent link="drawer_sink_col1_top_link"/>
    <child link="drawer_sink_col1_top_bottom_link"/>
  </joint>
  <link name="drawer_sink_col1_top_bottom_link">
    <inertial>
      <mass value="1.0"/>
      <inertia ixx="0.0408666666667" ixy="0" ixz="0" iyy="0.0651333333333" iyz="0" izz="0.0243333333333"/>
    </inertial>
    <visual>
      <origin rpy="0 0 0" xyz="-0.27 0 -0.035"/>
      <geometry>
        <box size="0.54 0.7 0.02"/>
      </geometry>
      <material name="KitchenDarkGray"/>
    </visual>
    <collision>
      <origin rpy="0 0 0" xyz="-0.27 0 -0.035"/>
      <geometry>
        <box size="0.54 0.7 0.02"/>
      </geometry>
    </collision>
  </link>
  <gazebo reference="drawer_sink_col1_top_bottom_link">
    <material value="Ias/KitchenLightGray"/>
  </gazebo>
  <joint name="drawer_sink_col1_top_handle_drawer_sink_col1_top_joint" type="fixed">
    <origin rpy="0 0 0" xyz="0.0625 0.0 0.0175"/>
    <parent link="drawer_sink_col1_top_link"/>
    <child link="handle_drawer_sink_col1_top_link"/>
  </joint>
  <link name="handle_drawer_sink_col1_top_link">
    <inertial>
      <mass value="0.1"/>
      <inertia ixx="0.00414270833333" ixy="0" ixz="0" iyy="0.00414270833333" iyz="0" izz="1.66666666667e-06"/>
    </inertial>
    <visual>
      <origin rpy="0 0 0" xyz="0 0 0"/>
      <geometry>
        <box size="0.01 0.705 0.01"/>
      </geometry>
      <material name="KitchenDarkGray"/>
    </visual>
    <collision>
      <origin rpy="0 0 0" xyz="0 0 0"/>
      <geometry>
        <box size="0.015 0.71 0.015"/>
      </geometry>
    </collision>
  </link>
  <gazebo reference="handle_drawer_sink_col1_top_link">
    <material value="Ias/KitchenDarkGray"/>
  </gazebo>
  <joint name="sink_block_drawer_sink_col2_fixed_joint" type="fixed">
    <origin rpy="0 0 0" xyz="0.57 1.13 0.46"/>
    <parent link="sink_block_link"/>
    <child link="drawer_sink_col2_fixed_link"/>
  </joint>
  <link name="drawer_sink_col2_fixed_link">
    <inertial>
      <mass value="1"/>
      <inertia ixx="4e-07" ixy="0" ixz="0" iyy="4e-07" iyz="0" izz="4e-07"/>
    </inertial>
  </link>
  <joint name="sink_block_drawer_sink_col2_joint" type="prismatic">
    <origin rpy="0 0 0" xyz="0 0 0"/>
    <parent link="drawer_sink_col2_fixed_link"/>
    <child link="drawer_sink_col2_link"/>
    <axis xyz="0.999 0 0.044"/>
    <!-- the axis needs to be slightly tilted so that the drawers would stay closed in Gazebo-->
    <limit effort="300" lower="0" upper="0.48" velocity="10"/>
  </joint>
  <gazebo reference="sink_block_drawer_sink_col2_joint">
    <erp>0.8</erp>
    <cfm>0.0000001</cfm>
    <stopKp>1000000.0</stopKp>
    <stopKd>1.0</stopKd>
  </gazebo>
  <link name="drawer_sink_col2_link">
    <inertial>
      <mass value="1.0"/>
      <inertia ixx="0.0732" ixy="0" ixz="0" iyy="0.0300333333333" iyz="0" izz="0.0432333333333"/>
    </inertial>
    <visual>
      <origin rpy="0 0 0" xyz="0 0 0"/>
      <geometry>
        <box size="0.02 0.595 0.715"/>
      </geometry>
      <material name="KitchenLightGray"/>
    </visual>
    <collision>
      <origin rpy="0 0 0" xyz="0 0 0"/>
      <geometry>
        <box size="0.02 0.6 0.72"/>
      </geometry>
    </collision>
  </link>
  <gazebo reference="drawer_sink_col2_link">
    <material value="Ias/KitchenLightGray"/>
  </gazebo>
  <joint name="drawer_sink_col2_left_fixed_joint" type="fixed">
    <origin rpy="0 0 0" xyz="0 0 0"/>
    <parent link="drawer_sink_col2_link"/>
    <child link="drawer_sink_col2_left_link"/>
  </joint>
  <link name="drawer_sink_col2_left_link">
    <inertial>
      <mass value="1.0"/>
      <inertia ixx="0.0374416666667" ixy="0" ixz="0" iyy="0.0243333333333" iyz="0" izz="0.0617083333333"/>
    </inertial>
    <visual>
      <origin rpy="0 0 0" xyz="-0.27 -0.24 0"/>
      <geometry>
        <box size="0.54 0.02 0.67"/>
      </geometry>
      <material name="KitchenDarkGray"/>
    </visual>
    <collision>
      <origin rpy="0 0 0" xyz="-0.27 -0.24 0"/>
      <geometry>
        <box size="0.54 0.02 0.67"/>
      </geometry>
    </collision>
  </link>
  <gazebo reference="drawer_sink_col2_left_link">
    <material value="Ias/KitchenLightGray"/>
  </gazebo>
  <joint name="drawer_sink_col2_right_fixed_joint" type="fixed">
    <origin rpy="0 0 0" xyz="0 0 0"/>
    <parent link="drawer_sink_col2_link"/>
    <child link="drawer_sink_col2_right_link"/>
  </joint>
  <link name="drawer_sink_col2_right_link">
    <inertial>
      <mass value="1.0"/>
      <inertia ixx="0.0374416666667" ixy="0" ixz="0" iyy="0.0243333333333" iyz="0" izz="0.0617083333333"/>
    </inertial>
    <visual>
      <origin rpy="0 0 0" xyz="-0.27 0.24 0"/>
      <geometry>
        <box size="0.54 0.02 0.67"/>
      </geometry>
      <material name="KitchenDarkGray"/>
    </visual>
    <collision>
      <origin rpy="0 0 0" xyz="-0.27 0.24 0"/>
      <geometry>
        <box size="0.54 0.02 0.67"/>
      </geometry>
    </collision>
  </link>
  <gazebo reference="drawer_sink_col2_right_link">
    <material value="Ias/KitchenLightGray"/>
  </gazebo>
  <joint name="drawer_sink_col2_back_fixed_joint" type="fixed">
    <origin rpy="0 0 0" xyz="0 0 0"/>
    <parent link="drawer_sink_col2_link"/>
    <child link="drawer_sink_col2_back_link"/>
  </joint>
  <link name="drawer_sink_col2_back_link">
    <inertial>
      <mass value="1.0"/>
      <inertia ixx="0.0582416666667" ixy="0" ixz="0" iyy="0.0208666666667" iyz="0" izz="0.0374416666667"/>
    </inertial>
    <visual>
      <origin rpy="0 0 0" xyz="-0.54 0 0"/>
      <geometry>
        <box size="0.02 0.5 0.67"/>
      </geometry>
      <material name="KitchenDarkGray"/>
    </visual>
    <collision>
      <origin rpy="0 0 0" xyz="-0.54 0 0"/>
      <geometry>
        <box size="0.02 0.5 0.67"/>
      </geometry>
    </collision>
  </link>
  <gazebo reference="drawer_sink_col2_back_link">
    <material value="Ias/KitchenLightGray"/>
  </gazebo>
  <joint name="drawer_sink_col2_bottom_fixed_joint" type="fixed">
    <origin rpy="0 0 0" xyz="0 0 0"/>
    <parent link="drawer_sink_col2_link"/>
    <child link="drawer_sink_col2_bottom_link"/>
  </joint>
  <link name="drawer_sink_col2_bottom_link">
    <inertial>
      <mass value="1.0"/>
      <inertia ixx="0.0208666666667" ixy="0" ixz="0" iyy="0.0451333333333" iyz="0" izz="0.0243333333333"/>
    </inertial>
    <visual>
      <origin rpy="0 0 0" xyz="-0.27 0 -0.325"/>
      <geometry>
        <box size="0.54 0.5 0.02"/>
      </geometry>
      <material name="KitchenDarkGray"/>
    </visual>
    <collision>
      <origin rpy="0 0 0" xyz="-0.27 0 -0.325"/>
      <geometry>
        <box size="0.54 0.5 0.02"/>
      </geometry>
    </collision>
  </link>
  <gazebo reference="drawer_sink_col2_bottom_link">
    <material value="Ias/KitchenLightGray"/>
  </gazebo>
  <joint name="drawer_sink_col2_handle_drawer_sink_col2_joint" type="fixed">
    <origin rpy="0 0 0" xyz="0.0625 0.0 0.3075"/>
    <parent link="drawer_sink_col2_link"/>
    <child link="handle_drawer_sink_col2_link"/>
  </joint>
  <link name="handle_drawer_sink_col2_link">
    <inertial>
      <mass value="0.1"/>
      <inertia ixx="0.00212604166667" ixy="0" ixz="0" iyy="0.00212604166667" iyz="0" izz="1.66666666667e-06"/>
    </inertial>
    <visual>
      <origin rpy="0 0 0" xyz="0 0 0"/>
      <geometry>
        <box size="0.01 0.505 0.01"/>
      </geometry>
      <material name="KitchenDarkGray"/>
    </visual>
    <collision>
      <origin rpy="0 0 0" xyz="0 0 0"/>
      <geometry>
        <box size="0.015 0.51 0.015"/>
      </geometry>
    </collision>
  </link>
  <gazebo reference="handle_drawer_sink_col2_link">
    <material value="Ias/KitchenDarkGray"/>
  </gazebo>
  <joint name="sink_block_drawer_sink_col3_bottom_fixed_joint" type="fixed">
    <origin rpy="0 0 0" xyz="0.57 1.73 0.39"/>
    <parent link="sink_block_link"/>
    <child link="drawer_sink_col3_bottom_fixed_link"/>
  </joint>
  <link name="drawer_sink_col3_bottom_fixed_link">
    <inertial>
      <mass value="1"/>
      <inertia ixx="4e-07" ixy="0" ixz="0" iyy="4e-07" iyz="0" izz="4e-07"/>
    </inertial>
  </link>
  <joint name="sink_block_drawer_sink_col3_bottom_joint" type="prismatic">
    <origin rpy="0 0 0" xyz="0 0 0"/>
    <parent link="drawer_sink_col3_bottom_fixed_link"/>
    <child link="drawer_sink_col3_bottom_link"/>
    <axis xyz="0.999 0 0.044"/>
    <!-- the axis needs to be slightly tilted so that the drawers would stay closed in Gazebo-->
    <limit effort="300" lower="0" upper="0.48" velocity="10"/>
  </joint>
  <gazebo reference="sink_block_drawer_sink_col3_bottom_joint">
    <erp>0.8</erp>
    <cfm>0.0000001</cfm>
    <stopKp>1000000.0</stopKp>
    <stopKd>1.0</stopKd>
  </gazebo>
  <link name="drawer_sink_col3_bottom_link">
    <inertial>
      <mass value="1.0"/>
      <inertia ixx="0.0580333333333" ixy="0" ixz="0" iyy="0.0300333333333" iyz="0" izz="0.0280666666667"/>
    </inertial>
    <visual>
      <origin rpy="0 0 0" xyz="0 0 0"/>
      <geometry>
        <box size="0.02 0.595 0.575"/>
      </geometry>
      <material name="KitchenLightGray"/>
    </visual>
    <collision>
      <origin rpy="0 0 0" xyz="0 0 0"/>
      <geometry>
        <box size="0.02 0.6 0.58"/>
      </geometry>
    </collision>
  </link>
  <gazebo reference="drawer_sink_col3_bottom_link">
    <material value="Ias/KitchenLightGray"/>
  </gazebo>
  <joint name="drawer_sink_col3_bottom_left_fixed_joint" type="fixed">
    <origin rpy="0 0 0" xyz="0 0 0"/>
    <parent link="drawer_sink_col3_bottom_link"/>
    <child link="drawer_sink_col3_bottom_left_link"/>
  </joint>
  <link name="drawer_sink_col3_bottom_left_link">
    <inertial>
      <mass value="1.0"/>
      <inertia ixx="0.0234416666667" ixy="0" ixz="0" iyy="0.0243333333333" iyz="0" izz="0.0477083333333"/>
    </inertial>
    <visual>
      <origin rpy="0 0 0" xyz="-0.27 -0.24 0"/>
      <geometry>
        <box size="0.54 0.02 0.53"/>
      </geometry>
      <material name="KitchenDarkGray"/>
    </visual>
    <collision>
      <origin rpy="0 0 0" xyz="-0.27 -0.24 0"/>
      <geometry>
        <box size="0.54 0.02 0.53"/>
      </geometry>
    </collision>
  </link>
  <gazebo reference="drawer_sink_col3_bottom_left_link">
    <material value="Ias/KitchenLightGray"/>
  </gazebo>
  <joint name="drawer_sink_col3_bottom_right_fixed_joint" type="fixed">
    <origin rpy="0 0 0" xyz="0 0 0"/>
    <parent link="drawer_sink_col3_bottom_link"/>
    <child link="drawer_sink_col3_bottom_right_link"/>
  </joint>
  <link name="drawer_sink_col3_bottom_right_link">
    <inertial>
      <mass value="1.0"/>
      <inertia ixx="0.0234416666667" ixy="0" ixz="0" iyy="0.0243333333333" iyz="0" izz="0.0477083333333"/>
    </inertial>
    <visual>
      <origin rpy="0 0 0" xyz="-0.27 0.24 0"/>
      <geometry>
        <box size="0.54 0.02 0.53"/>
      </geometry>
      <material name="KitchenDarkGray"/>
    </visual>
    <collision>
      <origin rpy="0 0 0" xyz="-0.27 0.24 0"/>
      <geometry>
        <box size="0.54 0.02 0.53"/>
      </geometry>
    </collision>
  </link>
  <gazebo reference="drawer_sink_col3_bottom_right_link">
    <material value="Ias/KitchenLightGray"/>
  </gazebo>
  <joint name="drawer_sink_col3_bottom_back_fixed_joint" type="fixed">
    <origin rpy="0 0 0" xyz="0 0 0"/>
    <parent link="drawer_sink_col3_bottom_link"/>
    <child link="drawer_sink_col3_bottom_back_link"/>
  </joint>
  <link name="drawer_sink_col3_bottom_back_link">
    <inertial>
      <mass value="1.0"/>
      <inertia ixx="0.0442416666667" ixy="0" ixz="0" iyy="0.0208666666667" iyz="0" izz="0.0234416666667"/>
    </inertial>
    <visual>
      <origin rpy="0 0 0" xyz="-0.54 0 0"/>
      <geometry>
        <box size="0.02 0.5 0.53"/>
      </geometry>
      <material name="KitchenDarkGray"/>
    </visual>
    <collision>
      <origin rpy="0 0 0" xyz="-0.54 0 0"/>
      <geometry>
        <box size="0.02 0.5 0.53"/>
      </geometry>
    </collision>
  </link>
  <gazebo reference="drawer_sink_col3_bottom_back_link">
    <material value="Ias/KitchenLightGray"/>
  </gazebo>
  <joint name="drawer_sink_col3_bottom_bottom_fixed_joint" type="fixed">
    <origin rpy="0 0 0" xyz="0 0 0"/>
    <parent link="drawer_sink_col3_bottom_link"/>
    <child link="drawer_sink_col3_bottom_bottom_link"/>
  </joint>
  <link name="drawer_sink_col3_bottom_bottom_link">
    <inertial>
      <mass value="1.0"/>
      <inertia ixx="0.0208666666667" ixy="0" ixz="0" iyy="0.0451333333333" iyz="0" izz="0.0243333333333"/>
    </inertial>
    <visual>
      <origin rpy="0 0 0" xyz="-0.27 0 -0.255"/>
      <geometry>
        <box size="0.54 0.5 0.02"/>
      </geometry>
      <material name="KitchenDarkGray"/>
    </visual>
    <collision>
      <origin rpy="0 0 0" xyz="-0.27 0 -0.255"/>
      <geometry>
        <box size="0.54 0.5 0.02"/>
      </geometry>
    </collision>
  </link>
  <gazebo reference="drawer_sink_col3_bottom_bottom_link">
    <material value="Ias/KitchenLightGray"/>
  </gazebo>
  <joint name="drawer_sink_col3_bottom_handle_drawer_sink_col3_bottom_joint" type="fixed">
    <origin rpy="0 0 0" xyz="0.0625 0.0 0.2375"/>
    <parent link="drawer_sink_col3_bottom_link"/>
    <child link="handle_drawer_sink_col3_bottom_link"/>
  </joint>
  <link name="handle_drawer_sink_col3_bottom_link">
    <inertial>
      <mass value="0.1"/>
      <inertia ixx="0.00212604166667" ixy="0" ixz="0" iyy="0.00212604166667" iyz="0" izz="1.66666666667e-06"/>
    </inertial>
    <visual>
      <origin rpy="0 0 0" xyz="0 0 0"/>
      <geometry>
        <box size="0.01 0.505 0.01"/>
      </geometry>
      <material name="KitchenDarkGray"/>
    </visual>
    <collision>
      <origin rpy="0 0 0" xyz="0 0 0"/>
      <geometry>
        <box size="0.015 0.51 0.015"/>
      </geometry>
    </collision>
  </link>
  <gazebo reference="handle_drawer_sink_col3_bottom_link">
    <material value="Ias/KitchenDarkGray"/>
  </gazebo>
  <joint name="sink_block_drawer_sink_col3_top_fixed_joint" type="fixed">
    <origin rpy="0 0 0" xyz="0.57 1.73 0.75"/>
    <parent link="sink_block_link"/>
    <child link="drawer_sink_col3_top_fixed_link"/>
  </joint>
  <link name="drawer_sink_col3_top_fixed_link">
    <inertial>
      <mass value="1"/>
      <inertia ixx="4e-07" ixy="0" ixz="0" iyy="4e-07" iyz="0" izz="4e-07"/>
    </inertial>
  </link>
  <joint name="sink_block_drawer_sink_col3_top_joint" type="prismatic">
    <origin rpy="0 0 0" xyz="0 0 0"/>
    <parent link="drawer_sink_col3_top_fixed_link"/>
    <child link="drawer_sink_col3_top_link"/>
    <axis xyz="0.999 0 0.044"/>
    <!-- the axis needs to be slightly tilted so that the drawers would stay closed in Gazebo-->
    <limit effort="300" lower="0" upper="0.48" velocity="10"/>
  </joint>
  <gazebo reference="sink_block_drawer_sink_col3_top_joint">
    <erp>0.8</erp>
    <cfm>0.0000001</cfm>
    <stopKp>1000000.0</stopKp>
    <stopKd>1.0</stopKd>
  </gazebo>
  <link name="drawer_sink_col3_top_link">
    <inertial>
      <mass value="1.0"/>
      <inertia ixx="0.0316333333333" ixy="0" ixz="0" iyy="0.0300333333333" iyz="0" izz="0.00166666666667"/>
    </inertial>
    <visual>
      <origin rpy="0 0 0" xyz="0 0 0"/>
      <geometry>
        <box size="0.02 0.595 0.135"/>
      </geometry>
      <material name="KitchenLightGray"/>
    </visual>
    <collision>
      <origin rpy="0 0 0" xyz="0 0 0"/>
      <geometry>
        <box size="0.02 0.6 0.14"/>
      </geometry>
    </collision>
  </link>
  <gazebo reference="drawer_sink_col3_top_link">
    <material value="Ias/KitchenLightGray"/>
  </gazebo>
  <joint name="drawer_sink_col3_top_left_fixed_joint" type="fixed">
    <origin rpy="0 0 0" xyz="0 0 0"/>
    <parent link="drawer_sink_col3_top_link"/>
    <child link="drawer_sink_col3_top_left_link"/>
  </joint>
  <link name="drawer_sink_col3_top_left_link">
    <inertial>
      <mass value="1.0"/>
      <inertia ixx="0.000708333333333" ixy="0" ixz="0" iyy="0.0243333333333" iyz="0" izz="0.024975"/>
    </inertial>
    <visual>
      <origin rpy="0 0 0" xyz="-0.27 -0.24 0"/>
      <geometry>
        <box size="0.54 0.02 0.09"/>
      </geometry>
      <material name="KitchenDarkGray"/>
    </visual>
    <collision>
      <origin rpy="0 0 0" xyz="-0.27 -0.24 0"/>
      <geometry>
        <box size="0.54 0.02 0.09"/>
      </geometry>
    </collision>
  </link>
  <gazebo reference="drawer_sink_col3_top_left_link">
    <material value="Ias/KitchenLightGray"/>
  </gazebo>
  <joint name="drawer_sink_col3_top_right_fixed_joint" type="fixed">
    <origin rpy="0 0 0" xyz="0 0 0"/>
    <parent link="drawer_sink_col3_top_link"/>
    <child link="drawer_sink_col3_top_right_link"/>
  </joint>
  <link name="drawer_sink_col3_top_right_link">
    <inertial>
      <mass value="1.0"/>
      <inertia ixx="0.000708333333333" ixy="0" ixz="0" iyy="0.0243333333333" iyz="0" izz="0.024975"/>
    </inertial>
    <visual>
      <origin rpy="0 0 0" xyz="-0.27 0.24 0"/>
      <geometry>
        <box size="0.54 0.02 0.09"/>
      </geometry>
      <material name="KitchenDarkGray"/>
    </visual>
    <collision>
      <origin rpy="0 0 0" xyz="-0.27 0.24 0"/>
      <geometry>
        <box size="0.54 0.02 0.09"/>
      </geometry>
    </collision>
  </link>
  <gazebo reference="drawer_sink_col3_top_right_link">
    <material value="Ias/KitchenLightGray"/>
  </gazebo>
  <joint name="drawer_sink_col3_top_back_fixed_joint" type="fixed">
    <origin rpy="0 0 0" xyz="0 0 0"/>
    <parent link="drawer_sink_col3_top_link"/>
    <child link="drawer_sink_col3_top_back_link"/>
  </joint>
  <link name="drawer_sink_col3_top_back_link">
    <inertial>
      <mass value="1.0"/>
      <inertia ixx="0.0215083333333" ixy="0" ixz="0" iyy="0.0208666666667" iyz="0" izz="0.000708333333333"/>
    </inertial>
    <visual>
      <origin rpy="0 0 0" xyz="-0.54 0 0"/>
      <geometry>
        <box size="0.02 0.5 0.09"/>
      </geometry>
      <material name="KitchenDarkGray"/>
    </visual>
    <collision>
      <origin rpy="0 0 0" xyz="-0.54 0 0"/>
      <geometry>
        <box size="0.02 0.5 0.09"/>
      </geometry>
    </collision>
  </link>
  <gazebo reference="drawer_sink_col3_top_back_link">
    <material value="Ias/KitchenLightGray"/>
  </gazebo>
  <joint name="drawer_sink_col3_top_bottom_fixed_joint" type="fixed">
    <origin rpy="0 0 0" xyz="0 0 0"/>
    <parent link="drawer_sink_col3_top_link"/>
    <child link="drawer_sink_col3_top_bottom_link"/>
  </joint>
  <link name="drawer_sink_col3_top_bottom_link">
    <inertial>
      <mass value="1.0"/>
      <inertia ixx="0.0208666666667" ixy="0" ixz="0" iyy="0.0451333333333" iyz="0" izz="0.0243333333333"/>
    </inertial>
    <visual>
      <origin rpy="0 0 0" xyz="-0.27 0 -0.035"/>
      <geometry>
        <box size="0.54 0.5 0.02"/>
      </geometry>
      <material name="KitchenDarkGray"/>
    </visual>
    <collision>
      <origin rpy="0 0 0" xyz="-0.27 0 -0.035"/>
      <geometry>
        <box size="0.54 0.5 0.02"/>
      </geometry>
    </collision>
  </link>
  <gazebo reference="drawer_sink_col3_top_bottom_link">
    <material value="Ias/KitchenLightGray"/>
  </gazebo>
  <joint name="drawer_sink_col3_top_handle_drawer_sink_col3_top_joint" type="fixed">
    <origin rpy="0 0 0" xyz="0.0625 0.0 0.0175"/>
    <parent link="drawer_sink_col3_top_link"/>
    <child link="handle_drawer_sink_col3_top_link"/>
  </joint>
  <link name="handle_drawer_sink_col3_top_link">
    <inertial>
      <mass value="0.1"/>
      <inertia ixx="0.00212604166667" ixy="0" ixz="0" iyy="0.00212604166667" iyz="0" izz="1.66666666667e-06"/>
    </inertial>
    <visual>
      <origin rpy="0 0 0" xyz="0 0 0"/>
      <geometry>
        <box size="0.01 0.505 0.01"/>
      </geometry>
      <material name="KitchenDarkGray"/>
    </visual>
    <collision>
      <origin rpy="0 0 0" xyz="0 0 0"/>
      <geometry>
        <box size="0.015 0.51 0.015"/>
      </geometry>
    </collision>
  </link>
  <gazebo reference="handle_drawer_sink_col3_top_link">
    <material value="Ias/KitchenDarkGray"/>
  </gazebo>
  <joint name="sink_block_skirting_sink_joint" type="fixed">
    <origin rpy="0 0 0" xyz="0.255 1.03 0.05"/>
    <parent link="sink_block_link"/>
    <child link="skirting_sink_link"/>
  </joint>
  <link name="skirting_sink_link">
    <inertial>
      <mass value="10"/>
      <inertia ixx="3.34166666667" ixy="0" ixz="0" iyy="3.55008333333" iyz="0" izz="0.225083333333"/>
    </inertial>
    <visual>
      <origin rpy="0 0 0" xyz="0 0 0"/>
      <geometry>
        <box size="0.51 2.0 0.1"/>
      </geometry>
      <material name="KitchenDarkGray"/>
    </visual>
    <collision>
      <origin rpy="0 0 0" xyz="0 0 0"/>
      <geometry>
        <box size="0.51 2.0 0.1"/>
      </geometry>
    </collision>
  </link>
  <gazebo reference="skirting_sink_link">
    <material value="Ias/KitchenDarkGray"/>
  </gazebo>
  <joint name="sink_block_joint" type="fixed">
    <origin rpy="0 0 0" xyz="0.210 1.200 0"/>
    <parent link="kitchen_link"/>
    <child link="sink_block_link"/>
  </joint>
  <link name="sink_block_link">
    <inertial>
      <mass value="0"/>
      <inertia ixx="0.0" ixy="0" ixz="0" iyy="0.0" iyz="0" izz="0.0"/>
    </inertial>
    <visual>
      <origin rpy="0 0 0" xyz="0 0 0"/>
      <geometry>
        <box size=".1 .1 .1"/>
      </geometry>
    </visual>
  </link>
  <joint name="fridge_block_counter_top_fridge_joint" type="fixed">
    <origin rpy="0 0 0" xyz="0.29 0.3 1.495"/>
    <parent link="fridge_block_link"/>
    <child link="counter_top_fridge_link"/>
  </joint>
  <link name="counter_top_fridge_link">
    <inertial>
      <mass value="2.0"/>
      <inertia ixx="0.06015" ixy="0" ixz="0" iyy="0.116066666667" iyz="0" izz="0.0562166666667"/>
    </inertial>
    <visual>
      <origin rpy="0 0 0" xyz="0 0 0"/>
      <geometry>
        <box size="0.58 0.6 0.03"/>
      </geometry>
      <material name="KitchenDarkGray"/>
    </visual>
    <collision>
      <origin rpy="0 0 0" xyz="0 0 0"/>
      <geometry>
        <box size="0.58 0.6 0.03"/>
      </geometry>
    </collision>
  </link>
  <gazebo reference="counter_top_fridge_link">
    <kp>100000</kp>
    <kd>1000000</kd>
    <mu1>50000</mu1>
    <mu2>50000</mu2>
    <material value="Ias/KitchenDarkGray"/>
  </gazebo>
  <joint name="fridge_block_counter_side_fridge_left_joint" type="fixed">
    <origin rpy="0 0 0" xyz="0.29 0.01 0.815"/>
    <parent link="fridge_block_link"/>
    <child link="counter_side_fridge_left_link"/>
  </joint>
  <link name="counter_side_fridge_left_link">
    <inertial>
      <mass value="2.0"/>
      <inertia ixx="0.294883333333" ixy="0" ixz="0" iyy="0.0561333333333" iyz="0" izz="0.350883333333"/>
    </inertial>
    <visual>
      <origin rpy="0 0 0" xyz="0 0 0"/>
      <geometry>
        <box size="0.58 0.02 1.33"/>
      </geometry>
      <material name="KitchenDarkGray"/>
    </visual>
    <collision>
      <origin rpy="0 0 0" xyz="0 0 0"/>
      <geometry>
        <box size="0.58 0.02 1.33"/>
      </geometry>
    </collision>
  </link>
  <gazebo reference="counter_side_fridge_left_link">
    <material value="Ias/KitchenDarkGray"/>
  </gazebo>
  <joint name="fridge_block_counter_side_fridge_right_joint" type="fixed">
    <origin rpy="0 0 0" xyz="0.29 0.59 0.815"/>
    <parent link="fridge_block_link"/>
    <child link="counter_side_fridge_right_link"/>
  </joint>
  <link name="counter_side_fridge_right_link">
    <inertial>
      <mass value="2.0"/>
      <inertia ixx="0.294883333333" ixy="0" ixz="0" iyy="0.0561333333333" iyz="0" izz="0.350883333333"/>
    </inertial>
    <visual>
      <origin rpy="0 0 0" xyz="0 0 0"/>
      <geometry>
        <box size="0.58 0.02 1.33"/>
      </geometry>
      <material name="KitchenDarkGray"/>
    </visual>
    <collision>
      <origin rpy="0 0 0" xyz="0 0 0"/>
      <geometry>
        <box size="0.58 0.02 1.33"/>
      </geometry>
    </collision>
  </link>
  <gazebo reference="counter_side_fridge_right_link">
    <material value="Ias/KitchenDarkGray"/>
  </gazebo>
  <joint name="fridge_block_counter_bottom_fridge_joint" type="fixed">
    <origin rpy="0 0 0" xyz="0.2875 0.3 0.515"/>
    <parent link="fridge_block_link"/>
    <child link="counter_bottom_fridge_link"/>
  </joint>
  <link name="counter_bottom_fridge_link">
    <inertial>
      <mass value="2.0"/>
      <inertia ixx="0.06015" ixy="0" ixz="0" iyy="0.115104166667" iyz="0" izz="0.0552541666667"/>
    </inertial>
    <visual>
      <origin rpy="0 0 0" xyz="0 0 0"/>
      <geometry>
        <box size="0.575 0.6 0.03"/>
      </geometry>
      <material name="KitchenWhite"/>
    </visual>
    <collision>
      <origin rpy="0 0 0" xyz="0 0 0"/>
      <geometry>
        <box size="0.575 0.6 0.03"/>
      </geometry>
    </collision>
  </link>
  <gazebo reference="counter_bottom_fridge_link">
    <kp>100000</kp>
    <kd>1000000</kd>
    <mu1>50000</mu1>
    <mu2>50000</mu2>
    <material value="Ias/KitchenWhite"/>
  </gazebo>
  <joint name="fridge_block_counter_middle_fridge_joint" type="fixed">
    <origin rpy="0 0 0" xyz="0.2125 0.3 0.845"/>
    <parent link="fridge_block_link"/>
    <child link="counter_middle_fridge_link"/>
  </joint>
  <link name="counter_middle_fridge_link">
    <inertial>
      <mass value="2.0"/>
      <inertia ixx="0.06015" ixy="0" ixz="0" iyy="0.0901041666667" iyz="0" izz="0.0302541666667"/>
    </inertial>
    <visual>
      <origin rpy="0 0 0" xyz="0 0 0"/>
      <geometry>
        <box size="0.425 0.6 0.03"/>
      </geometry>
      <material name="KitchenWhite"/>
    </visual>
    <collision>
      <origin rpy="0 0 0" xyz="0 0 0"/>
      <geometry>
        <box size="0.425 0.6 0.03"/>
      </geometry>
    </collision>
  </link>
  <gazebo reference="counter_middle_fridge_link">
    <kp>100000</kp>
    <kd>1000000</kd>
    <mu1>50000</mu1>
    <mu2>50000</mu2>
    <material value="Ias/KitchenWhite"/>
  </gazebo>
  <joint name="fridge_block_drawer_fridge_bottom_fixed_joint" type="fixed">
    <origin rpy="0 0 0" xyz="0.57 0.3 0.3325"/>
    <parent link="fridge_block_link"/>
    <child link="drawer_fridge_bottom_fixed_link"/>
  </joint>
  <link name="drawer_fridge_bottom_fixed_link">
    <inertial>
      <mass value="1"/>
      <inertia ixx="4e-07" ixy="0" ixz="0" iyy="4e-07" iyz="0" izz="4e-07"/>
    </inertial>
  </link>
  <joint name="fridge_block_drawer_fridge_bottom_joint" type="prismatic">
    <origin rpy="0 0 0" xyz="0 0 0"/>
    <parent link="drawer_fridge_bottom_fixed_link"/>
    <child link="drawer_fridge_bottom_link"/>
    <axis xyz="0.999 0 0.044"/>
    <!-- the axis needs to be slightly tilted so that the drawers would stay closed in Gazebo-->
    <limit effort="300" lower="0" upper="0.48" velocity="10"/>
  </joint>
  <gazebo reference="fridge_block_drawer_fridge_bottom_joint">
    <erp>0.8</erp>
    <cfm>0.0000001</cfm>
    <stopKp>1000000.0</stopKp>
    <stopKd>1.0</stopKd>
  </gazebo>
  <link name="drawer_fridge_bottom_link">
    <inertial>
      <mass value="1.0"/>
      <inertia ixx="0.0377041666667" ixy="0" ixz="0" iyy="0.0266354166667" iyz="0" izz="0.0111354166667"/>
    </inertial>
    <visual>
      <origin rpy="0 0 0" xyz="0 0 0"/>
      <geometry>
        <box size="0.02 0.56 0.36"/>
      </geometry>
      <material name="KitchenLightGray"/>
    </visual>
    <collision>
      <origin rpy="0 0 0" xyz="0 0 0"/>
      <geometry>
        <box size="0.02 0.565 0.365"/>
      </geometry>
    </collision>
  </link>
  <gazebo reference="drawer_fridge_bottom_link">
    <material value="Ias/KitchenLightGray"/>
  </gazebo>
  <joint name="drawer_fridge_bottom_left_fixed_joint" type="fixed">
    <origin rpy="0 0 0" xyz="0 0 0"/>
    <parent link="drawer_fridge_bottom_link"/>
    <child link="drawer_fridge_bottom_left_link"/>
  </joint>
  <link name="drawer_fridge_bottom_left_link">
    <inertial>
      <mass value="1.0"/>
      <inertia ixx="0.00830208333333" ixy="0" ixz="0" iyy="0.0243333333333" iyz="0" izz="0.03256875"/>
    </inertial>
    <visual>
      <origin rpy="0 0 0" xyz="-0.27 -0.2225 0"/>
      <geometry>
        <box size="0.54 0.02 0.315"/>
      </geometry>
      <material name="KitchenDarkGray"/>
    </visual>
    <collision>
      <origin rpy="0 0 0" xyz="-0.27 -0.2225 0"/>
      <geometry>
        <box size="0.54 0.02 0.315"/>
      </geometry>
    </collision>
  </link>
  <gazebo reference="drawer_fridge_bottom_left_link">
    <material value="Ias/KitchenLightGray"/>
  </gazebo>
  <joint name="drawer_fridge_bottom_right_fixed_joint" type="fixed">
    <origin rpy="0 0 0" xyz="0 0 0"/>
    <parent link="drawer_fridge_bottom_link"/>
    <child link="drawer_fridge_bottom_right_link"/>
  </joint>
  <link name="drawer_fridge_bottom_right_link">
    <inertial>
      <mass value="1.0"/>
      <inertia ixx="0.00830208333333" ixy="0" ixz="0" iyy="0.0243333333333" iyz="0" izz="0.03256875"/>
    </inertial>
    <visual>
      <origin rpy="0 0 0" xyz="-0.27 0.2225 0"/>
      <geometry>
        <box size="0.54 0.02 0.315"/>
      </geometry>
      <material name="KitchenDarkGray"/>
    </visual>
    <collision>
      <origin rpy="0 0 0" xyz="-0.27 0.2225 0"/>
      <geometry>
        <box size="0.54 0.02 0.315"/>
      </geometry>
    </collision>
  </link>
  <gazebo reference="drawer_fridge_bottom_right_link">
    <material value="Ias/KitchenLightGray"/>
  </gazebo>
  <joint name="drawer_fridge_bottom_back_fixed_joint" type="fixed">
    <origin rpy="0 0 0" xyz="0 0 0"/>
    <parent link="drawer_fridge_bottom_link"/>
    <child link="drawer_fridge_bottom_back_link"/>
  </joint>
  <link name="drawer_fridge_bottom_back_link">
    <inertial>
      <mass value="1.0"/>
      <inertia ixx="0.0262875" ixy="0" ixz="0" iyy="0.0180520833333" iyz="0" izz="0.00830208333333"/>
    </inertial>
    <visual>
      <origin rpy="0 0 0" xyz="-0.54 0 0"/>
      <geometry>
        <box size="0.02 0.465 0.315"/>
      </geometry>
      <material name="KitchenDarkGray"/>
    </visual>
    <collision>
      <origin rpy="0 0 0" xyz="-0.54 0 0"/>
      <geometry>
        <box size="0.02 0.465 0.315"/>
      </geometry>
    </collision>
  </link>
  <gazebo reference="drawer_fridge_bottom_back_link">
    <material value="Ias/KitchenLightGray"/>
  </gazebo>
  <joint name="drawer_fridge_bottom_bottom_fixed_joint" type="fixed">
    <origin rpy="0 0 0" xyz="0 0 0"/>
    <parent link="drawer_fridge_bottom_link"/>
    <child link="drawer_fridge_bottom_bottom_link"/>
  </joint>
  <link name="drawer_fridge_bottom_bottom_link">
    <inertial>
      <mass value="1.0"/>
      <inertia ixx="0.0180520833333" ixy="0" ixz="0" iyy="0.04231875" iyz="0" izz="0.0243333333333"/>
    </inertial>
    <visual>
      <origin rpy="0 0 0" xyz="-0.27 0 -0.1475"/>
      <geometry>
        <box size="0.54 0.465 0.02"/>
      </geometry>
      <material name="KitchenDarkGray"/>
    </visual>
    <collision>
      <origin rpy="0 0 0" xyz="-0.27 0 -0.1475"/>
      <geometry>
        <box size="0.54 0.465 0.02"/>
      </geometry>
    </collision>
  </link>
  <gazebo reference="drawer_fridge_bottom_bottom_link">
    <material value="Ias/KitchenLightGray"/>
  </gazebo>
  <joint name="drawer_fridge_bottom_handle_drawer_fridge_bottom_joint" type="fixed">
    <origin rpy="0 0 0" xyz="0.0625 0.0 0.13"/>
    <parent link="drawer_fridge_bottom_link"/>
    <child link="handle_drawer_fridge_bottom_link"/>
  </joint>
  <link name="handle_drawer_fridge_bottom_link">
    <inertial>
      <mass value="0.1"/>
      <inertia ixx="0.00184166666667" ixy="0" ixz="0" iyy="0.00184166666667" iyz="0" izz="1.66666666667e-06"/>
    </inertial>
    <visual>
      <origin rpy="0 0 0" xyz="0 0 0"/>
      <geometry>
        <box size="0.01 0.47 0.01"/>
      </geometry>
      <material name="KitchenDarkGray"/>
    </visual>
    <collision>
      <origin rpy="0 0 0" xyz="0 0 0"/>
      <geometry>
        <box size="0.015 0.475 0.015"/>
      </geometry>
    </collision>
  </link>
  <gazebo reference="handle_drawer_fridge_bottom_link">
    <material value="Ias/KitchenDarkGray"/>
  </gazebo>
  <joint name="fridge_block_fridge_fixed_joint" type="fixed">
    <origin rpy="0 0 0" xyz="0.58 0.6 0.995"/>
    <parent link="fridge_block_link"/>
    <child link="fridge_fixed_link"/>
  </joint>
  <link name="fridge_fixed_link">
    <inertial>
      <mass value="0.1"/>
      <inertia ixx="4e-08" ixy="0" ixz="0" iyy="4e-08" iyz="0" izz="4e-08"/>
    </inertial>
  </link>
  <joint name="fridge_block_fridge_joint" type="revolute">
    <origin rpy="0 0 0" xyz="0 0 0"/>
    <parent link="fridge_fixed_link"/>
    <child link="fridge_link"/>
    <axis xyz="0 0 1"/>
    <limit effort="300" lower="0" upper="1.3" velocity="10"/>
  </joint>
  <link name="fridge_link">
    <inertial>
      <mass value="1.0"/>
      <inertia ixx="0.107104166667" ixy="0" ixz="0" iyy="0.0295041666667" iyz="0" izz="0.0776041666667"/>
    </inertial>
    <visual>
      <origin rpy="0 0 0" xyz="-0.005 -0.3 0"/>
      <geometry>
        <box size="0.005 0.595 0.965"/>
      </geometry>
      <material name="KitchenLightGray"/>
    </visual>
    <collision>
      <origin rpy="0 0 0" xyz="-0.005 -0.3 0"/>
      <geometry>
        <box size="0.01 0.6 0.97"/>
      </geometry>
    </collision>
  </link>
  <gazebo reference="fridge_link">
    <material value="Ias/KitchenLightGray"/>
  </gazebo>
  <joint name="fridge_handle_fridge_joint" type="fixed">
    <origin rpy="0 0 0" xyz="0.0625 -0.57 0.0"/>
    <parent link="fridge_link"/>
    <child link="handle_fridge_link"/>
  </joint>
  <link name="handle_fridge_link">
    <inertial>
      <mass value="0.1"/>
      <inertia ixx="0.00638104166667" ixy="0" ixz="0" iyy="1.66666666667e-06" iyz="0" izz="0.00638104166667"/>
    </inertial>
    <visual>
      <origin rpy="0 0 0" xyz="0 0 0"/>
      <geometry>
        <box size="0.01 0.01 0.875"/>
      </geometry>
      <material name="KitchenDarkGray"/>
    </visual>
    <collision>
      <origin rpy="0 0 0" xyz="0 0 0"/>
      <geometry>
        <box size="0.015 0.015 0.88"/>
      </geometry>
    </collision>
  </link>
  <gazebo reference="handle_fridge_link">
    <material value="Ias/KitchenDarkGray"/>
  </gazebo>
  <joint name="fridge_block_skirting_fridge_joint" type="fixed">
    <origin rpy="0 0 0" xyz="0.255 0.3 0.075"/>
    <parent link="fridge_block_link"/>
    <child link="skirting_fridge_link"/>
  </joint>
  <link name="skirting_fridge_link">
    <inertial>
      <mass value="10"/>
      <inertia ixx="0.31875" ixy="0" ixz="0" iyy="0.51675" iyz="0" izz="0.2355"/>
    </inertial>
    <visual>
      <origin rpy="0 0 0" xyz="0 0 0"/>
      <geometry>
        <box size="0.51 0.6 0.15"/>
      </geometry>
      <material name="KitchenDarkGray"/>
    </visual>
    <collision>
      <origin rpy="0 0 0" xyz="0 0 0"/>
      <geometry>
        <box size="0.51 0.6 0.15"/>
      </geometry>
    </collision>
  </link>
  <gazebo reference="skirting_fridge_link">
    <material value="Ias/KitchenDarkGray"/>
  </gazebo>
  <joint name="fridge_block_joint" type="fixed">
    <origin rpy="0 0 0" xyz="0.095 3.260 0"/>
    <parent link="kitchen_link"/>
    <child link="fridge_block_link"/>
  </joint>
  <link name="fridge_block_link">
    <inertial>
      <mass value="0"/>
      <inertia ixx="0.0" ixy="0" ixz="0" iyy="0.0" iyz="0" izz="0.0"/>
    </inertial>
    <visual>
      <origin rpy="0 0 0" xyz="0 0 0"/>
      <geometry>
        <box size=".1 .1 .1"/>
      </geometry>
    </visual>
  </link>
  <!-- The real measured values -->
  <!--<shopping_block block_pos="6.750 1.085 0" block_rpy="0 0 3.141"/>-->
  <!-- The visually tunned values -->
  <!--shopping_block name="left_shopping_block" block_pos="9 2.0 0" block_rpy="0 0 3.141"/>
  <shopping_block name="middle_shopping_block" block_pos="8.8 0.2 0" block_rpy="0 0 2.34"/>
  <shopping_block name="right_shopping_block" block_pos="7.4 -0.87 0" block_rpy="0 0 1.57"/-->
  <!--table block_pos="6 1 0" block_rpy="0 0 1.57"/-->
</robot>
